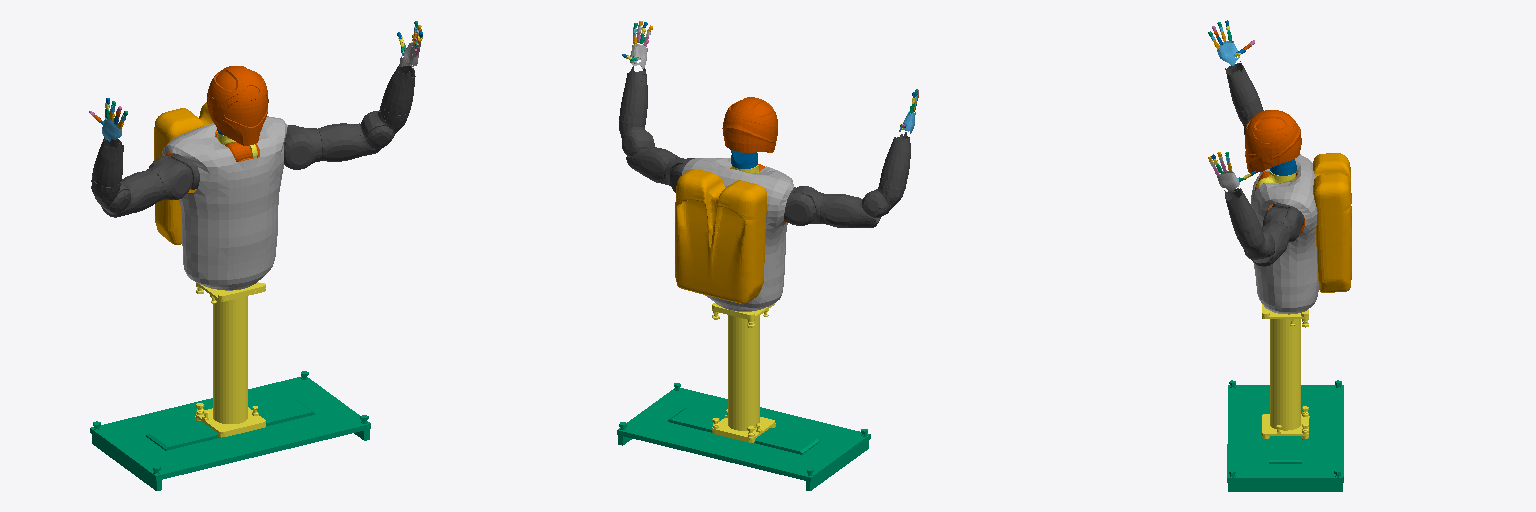
--- Render facts (derived) ---
3 views of the same robot in one strip: view 1: azimuth 30°, elevation 25°; view 2: azimuth 150°, elevation 25°; view 3: azimuth 270°, elevation 25° (orthographic).
Model r2 with 92 links and 91 joints (54 revolute, 37 fixed), rooted at world, posed joints at zero except 4 at the middle of their limits (r2/left_arm/joint2 = -2.84, r2/left_arm/joint3 = -1.44, r2/right_arm/joint2 = 2.84, r2/right_arm/joint3 = -1.44).
Visible links, largest first — view 1: r2/baseplate, r2/body_cover, r2/stanchion, r2/neck_roll, r2/backpack, r2/left_upper_arm, r2/right_upper_arm, r2/left_lower_arm, r2/left_shoulder_pitch, r2/right_lower_arm, r2/right_shoulder_pitch, r2/left_elbow; view 2: r2/baseplate, r2/backpack, r2/stanchion, r2/body_cover, r2/neck_roll, r2/right_upper_arm, r2/left_lower_arm, r2/right_lower_arm, r2/left_upper_arm, r2/right_elbow, r2/right_shoulder_roll, r2/left_elbow; view 3: r2/baseplate, r2/body_cover, r2/backpack, r2/stanchion, r2/neck_roll, r2/right_lower_arm, r2/left_lower_arm, r2/left_upper_arm, r2/left_elbow.
Boxes of the visible links, <box> form: r2/baseplate: <box>90,371,370,490</box>; r2/body_cover: <box>162,116,287,290</box>; r2/stanchion: <box>195,282,265,437</box>; r2/neck_roll: <box>207,66,268,145</box>; r2/backpack: <box>154,102,213,244</box>; r2/left_upper_arm: <box>318,123,393,161</box>; r2/right_upper_arm: <box>101,170,163,217</box>; r2/left_lower_arm: <box>380,64,415,120</box>; r2/left_shoulder_pitch: <box>284,127,321,169</box>; r2/right_lower_arm: <box>91,137,123,192</box>; r2/right_shoulder_pitch: <box>147,158,192,200</box>; r2/left_elbow: <box>361,110,406,137</box>; r2/baseplate: <box>617,383,870,490</box>; r2/backpack: <box>675,169,766,303</box>; r2/stanchion: <box>712,303,775,442</box>; r2/body_cover: <box>682,158,793,311</box>; r2/neck_roll: <box>722,97,777,152</box>; r2/right_upper_arm: <box>820,194,880,227</box>; r2/left_lower_arm: <box>619,67,647,123</box>; r2/right_lower_arm: <box>879,132,910,189</box>; r2/left_upper_arm: <box>626,145,677,184</box>; r2/right_elbow: <box>862,184,904,217</box>; r2/right_shoulder_roll: <box>783,187,816,225</box>; r2/left_elbow: <box>619,120,654,155</box>; r2/baseplate: <box>1227,380,1343,491</box>; r2/body_cover: <box>1251,154,1318,314</box>; r2/backpack: <box>1313,153,1351,292</box>; r2/stanchion: <box>1262,304,1309,438</box>; r2/neck_roll: <box>1245,110,1301,172</box>; r2/right_lower_arm: <box>1225,61,1262,117</box>; r2/left_lower_arm: <box>1224,188,1261,240</box>; r2/left_upper_arm: <box>1244,221,1289,266</box>; r2/left_elbow: <box>1239,230,1274,259</box>.
Size in the robot's own frame: 1.55 by 0.695 by 1.91 metres.
52 mesh visuals loaded from 28 distinct referenced files (28 Collada DAE).

robot.urdf — r2:
<?xml version="1.0" ?>
<!-- =================================================================================== -->
<!-- |    This document was autogenerated by xacro from r2.sim.urdf.xacro              | -->
<!-- |    EDITING THIS FILE BY HAND IS NOT RECOMMENDED                                 | -->
<!-- =================================================================================== -->
<robot name="r2" xmlns:controller="http://playerstage.sourceforge.net/gazebo/xmlschema/#controller" xmlns:interface="http://playerstage.sourceforge.net/gazebo/xmlschema/#interface" xmlns:sensor="http://playerstage.sourceforge.net/gazebo/xmlschema/#sensor" xmlns:xacro="http://playerstage.sourceforge.net/gazebo/xmlschema/#interface">
  <material name="white">
    <color rgba="1.0 1.0 1.0 1.0"/>
  </material>
  <material name="dirty_white">
    <color rgba="0.322 0.322 0.322 1.0"/>
  </material>
  <material name="gold">
    <color rgba=".878 .49 0.008 1"/>
  </material>
  <material name="steel">
    <color rgba=".7 .7 .7 1"/>
  </material>
  <material name="blue">
    <color rgba="0 0 0.8 1"/>
  </material>
  <link name="world"/>
  <joint name="r2/fixed/world/robot_world" type="fixed">
    <parent link="world"/>
    <child link="r2/robot_world"/>
    <origin rpy="0.0 0 0" xyz="0.0 0.0 0.0"/>
  </joint>
  <link name="r2/robot_world">
    <inertial>
      <mass value="1"/>
      <inertia ixx="1" ixy="0.0" ixz="0.0" iyy="1" iyz="0.0" izz="1"/>
    </inertial>
  </link>
  <joint name="r2/fixed/robot_world/baseplate" type="fixed">
    <parent link="r2/robot_world"/>
    <child link="r2/baseplate"/>
    <origin rpy="0.0 0 1.57" xyz="0.0 0.0 0.0"/>
  </joint>
  <link name="r2/baseplate">
    <visual>
      <geometry>
        <mesh filename="package://r2_description/meshes/Stanchion_Baseplate.dae"/>
      </geometry>
      <origin rpy="1.57 0 1.57" xyz="0.0 0.0 0.0"/>
    </visual>
    <collision>
      <geometry>
        <mesh filename="package://r2_description/meshes/Stanchion_Baseplate.dae" scale=".01 .01 .01"/>
      </geometry>
      <origin rpy="1.57 0 1.57" xyz="0.0 0.0 0.0"/>
    </collision>
    <inertial>
      <mass value="5"/>
      <inertia ixx="1" ixy="0.0" ixz="0.0" iyy="1" iyz="0.0" izz="1"/>
    </inertial>
  </link>
  <joint name="r2/fixed/baseplate/stanchion" type="fixed">
    <parent link="r2/baseplate"/>
    <child link="r2/stanchion"/>
    <origin rpy="0 0 3.14" xyz="0.0 0.0 .70"/>
  </joint>
  <link name="r2/stanchion">
    <visual>
      <geometry>
        <mesh filename="package://r2_description/meshes/Stanchion.dae"/>
      </geometry>
      <origin rpy="0 0 0" xyz="0.0 0.0 0.0"/>
    </visual>
    <collision>
      <geometry>
        <!--        <mesh filename="package://r2_description/meshes/Stanchion.dae"/> -->
        <cylinder length="0.5" radius=".075"/>
      </geometry>
      <origin rpy="0 0 0" xyz="0.0 0.0 -0.3"/>
    </collision>
    <inertial>
      <mass value="50"/>
      <inertia ixx="10" ixy="0.0" ixz="0.0" iyy="10" iyz="0.0" izz="10"/>
    </inertial>
  </link>
  <joint name="r2/fixed/stanchion/robot_base" type="fixed">
    <parent link="r2/stanchion"/>
    <child link="r2/robot_base"/>
    <origin rpy="0 3.14 3.14" xyz="0.0 0.0 0.02"/>
  </joint>
  <link name="r2/robot_base">
    <inertial>
      <mass value="0.01"/>
      <inertia ixx="0.0001" ixy="0.0" ixz="0.0" iyy="0.001" iyz="0.0" izz="0.001"/>
    </inertial>
  </link>
  <joint name="r2/waist/joint0" type="revolute">
    <parent link="r2/robot_base"/>
    <child link="r2/waist_center"/>
    <axis xyz="0 0 1"/>
    <origin rpy="0.0 0 0.0" xyz="0.0 0.0 0.0"/>
    <dynamics damping="20.0" friction="1.0"/>
    <limit effort="10000000.0" lower="-3.14" upper="3.14" velocity="1000"/>
  </joint>
  <link name="r2/waist_center">
    <visual>
      <geometry>
        <mesh filename="package://r2_description/meshes/Body.dae"/>
      </geometry>
      <origin rpy="-1.57 0 -1.57" xyz="0.01 0.05 -0.5625"/>
    </visual>
    <!-- <collision>
      <geometry>
         <mesh filename="package://r2_description/meshes/Body.dae"/>  
      </geometry>
      <origin rpy="-1.57 0 -1.57" xyz="0.00 0.05 -0.5625"/>
    </collision> -->
    <inertial>
      <mass value="10"/>
      <inertia ixx="1" ixy="0.0" ixz="0.0" iyy="1" iyz="0.0" izz="1"/>
    </inertial>
  </link>
  <joint name="r2/fixed/waist_center/robot_reference" type="fixed">
    <parent link="r2/waist_center"/>
    <child link="r2/robot_reference"/>
    <origin rpy="0.0 0 0.0" xyz="0.1234 0.0 0.0"/>
  </joint>
  <joint name="r2/fixed/waist_center/body_cover" type="fixed">
    <parent link="r2/waist_center"/>
    <child link="r2/body_cover"/>
    <origin rpy="0.0 0.0 0.0" xyz="0 0.0 0.0"/>
  </joint>
  <joint name="r2/fixed/waist_center/backpack" type="fixed">
    <parent link="r2/waist_center"/>
    <child link="r2/backpack"/>
    <origin rpy="0.0 0.0 0.0" xyz="0 0.0 0.0"/>
  </joint>
  <joint name="r2/fixed/waist_center/chest_center" type="fixed">
    <parent link="r2/waist_center"/>
    <child link="r2/chest_center"/>
    <origin rpy="0.0 0.0 0.0" xyz="-0.01235 0.0 0.0"/>
  </joint>
  <link name="r2/robot_reference">
    <inertial>
      <mass value="0.01"/>
      <inertia ixx="0.0001" ixy="0.0" ixz="0.0" iyy="0.001" iyz="0.0" izz="0.001"/>
    </inertial>
  </link>
  <link name="r2/body_cover">
    <visual>
      <geometry>
        <mesh filename="package://r2_description/meshes/Body_Cover.dae"/>
      </geometry>
      <!--       <origin rpy="-1.57 0 -1.57" xyz="0.02 0.05 -0.5625"/>
 -->
      <origin rpy="-1.57 0 -1.57" xyz="0.01 0.05 -0.5625"/>
    </visual>
    <collision>
      <geometry>
        <mesh filename="package://r2_description/meshes/Body_Cover.dae"/>
      </geometry>
      <origin rpy="-1.57 0 -1.57" xyz="0.01 0.05 -0.5625"/>
    </collision>
    <inertial>
      <mass value="0.1"/>
      <inertia ixx="0.001" ixy="0.0" ixz="0.0" iyy="0.001" iyz="0.0" izz="0.001"/>
    </inertial>
  </link>
  <link name="r2/backpack">
    <visual>
      <geometry>
        <mesh filename="package://r2_description/meshes/Backpack.dae"/>
      </geometry>
      <origin rpy="0 0 0.25" xyz="0.0 0.0 -0.54"/>
    </visual>
    <collision>
      <geometry>
        <mesh filename="package://r2_description/meshes/Backpack.dae"/>
      </geometry>
      <origin rpy="0 0 0.25" xyz="0.0 0.0 -0.54"/>
    </collision>
    <inertial>
      <mass value="10"/>
      <inertia ixx="1" ixy="0.0" ixz="0.0" iyy="1" iyz="0.0" izz="1"/>
    </inertial>
  </link>
  <link name="r2/chest_center">
    <inertial>
      <mass value="0.01"/>
      <inertia ixx="0.0001" ixy="0.0" ixz="0.0" iyy="0.001" iyz="0.0" izz="0.001"/>
    </inertial>
  </link>
  <joint name="r2/fixed/chest_center/chest_base" type="fixed">
    <parent link="r2/chest_center"/>
    <child link="r2/chest_base"/>
    <origin rpy="0.0 -0.0 0.0 " xyz="-0.05299202 -0.0 -0.5442458"/>
  </joint>
  <link name="r2/chest_base">
    <inertial>
      <mass value="0.01"/>
      <inertia ixx="0.0001" ixy="0.0" ixz="0.0" iyy="0.001" iyz="0.0" izz="0.001"/>
    </inertial>
  </link>
  <joint name="r2/neck/joint0" type="revolute">
    <parent link="r2/waist_center"/>
    <child link="r2/neck_base"/>
    <origin rpy=" -1.570796 -0.0 0.0 " xyz=" 0.08636 0.0 -0.6142228 "/>
    <dynamics damping="1.0" friction="0.0"/>
    <axis xyz="0 0 1"/>
    <limit effort="10000.0" lower="-0.7" upper="0.175" velocity="1000.0"/>
  </joint>
  <link name="r2/neck_base">
    <visual>
      <geometry>
        <mesh filename="package://r2_description/meshes/Neck_Lower.dae"/>
      </geometry>
      <origin rpy="-1.57 1.57 0" xyz="0.0 0.0 0.0"/>
    </visual>
    <inertial>
      <mass value=".1"/>
      <inertia ixx=".0010" ixy="0.0" ixz="0.0" iyy=".0010" iyz="0.0" izz=".0010"/>
    </inertial>
    <collision>
      <geometry>
        <mesh filename="package://r2_description/meshes/Neck_Lower.dae"/>
      </geometry>
      <origin rpy="-1.57 1.57 0" xyz="0.0 0.0 0.0"/>
    </collision>
  </link>
  <joint name="r2/neck/joint1" type="revolute">
    <parent link="r2/neck_base"/>
    <child link="r2/neck_lower_pitch"/>
    <origin rpy=" -1.570796 -0.0 0.0 " xyz=" -0.0762 -0.0 0.0 "/>
    <dynamics damping="1.0" friction="0.0"/>
    <axis xyz="0 0 1"/>
    <limit effort="10000.0" lower="-1.22" upper="1.22" velocity="1000.0"/>
  </joint>
  <link name="r2/neck_lower_pitch">
    <visual>
      <geometry>
        <mesh filename="package://r2_description/meshes/Neck_Upper.dae"/>
      </geometry>
      <origin rpy="0 0 1.57" xyz="0.075 0.0 0.0"/>
    </visual>
    <inertial>
      <mass value=".1"/>
      <inertia ixx=".0010" ixy="0.0" ixz="0.0" iyy=".0010" iyz="0.0" izz=".0010"/>
    </inertial>
    <collision>
      <geometry>
        <mesh filename="package://r2_description/meshes/Neck_Upper.dae"/>
      </geometry>
      <origin rpy="0 0 1.57" xyz="0.075 0.0 0.0"/>
    </collision>
  </link>
  <joint name="r2/neck/joint2" type="revolute">
    <parent link="r2/neck_lower_pitch"/>
    <child link="r2/neck_roll"/>
    <origin rpy=" 1.570796 -0.0 0.0 " xyz=" 0.0508 0.0 0.1777619 "/>
    <dynamics damping="1.0" friction="0.0"/>
    <axis xyz="0 0 1"/>
    <limit effort="10000.0" lower="-0.7" upper="0.175" velocity="1000.0"/>
  </joint>
  <link name="r2/neck_roll">
    <visual>
      <geometry>
        <mesh filename="package://r2_description/meshes/Head.dae"/>
      </geometry>
      <origin rpy="0 1.57 0" xyz="-0.0 0.07 0.0"/>
    </visual>
    <collision>
      <geometry>
        <mesh filename="package://r2_description/meshes/Head.dae"/>
      </geometry>
      <origin rpy="0 1.57 0" xyz="-0.0 0.07 0.0"/>
    </collision>
    <inertial>
      <mass value=".1"/>
      <inertia ixx=".0010" ixy="0.0" ixz="0.0" iyy=".0010" iyz="0.0" izz=".0010"/>
    </inertial>
  </link>
  <joint name="r2/fixed/neck_roll/neck_upper_pitch" type="fixed">
    <parent link="r2/neck_roll"/>
    <child link="r2/neck_upper_pitch"/>
    <origin rpy=" 1.570796 -0.0 0.0 " xyz=" 0.0 0.0 0.0 "/>
  </joint>
  <link name="r2/neck_upper_pitch">
    <inertial>
      <mass value=".1"/>
      <inertia ixx=".0010" ixy="0.0" ixz="0.0" iyy=".0010" iyz="0.0" izz=".0010"/>
    </inertial>
  </link>
  <joint name="r2/fixed/neck_upper_pitch/asus_frame" type="fixed">
    <parent link="r2/neck_upper_pitch"/>
    <child link="r2/asus_frame"/>
    <origin rpy="1.50 0.0 1.57 " xyz="0.12 -0.015 -0.14 "/>
    <!-- OK    <origin rpy="1.45 0 1.57 " xyz="0.11 -0.040 -0.15 "/>  -->
    <!-- ORIGINAL     <origin rpy="1.57 0 1.57 " xyz="0.066675 -0.0508 -0.116205 "/>  -->
  </joint>
  <joint name="r2/fixed/neck_upper_pitch/simulated_asus_camera_frame" type="fixed">
    <parent link="r2/neck_upper_pitch"/>
    <child link="r2/simulated_asus_camera_frame"/>
    <dynamics damping="1.0"/>
    <origin rpy="3.14 0 0" xyz="0.12 -0.015 -0.14 "/>
    <!--     <origin rpy="0 0 0" xyz="0.12 -0.015 -0.14 "/> -->
  </joint>
  <joint name="r2/fixed/neck_upper_pitch/simulated_asus_depth_frame" type="fixed">
    <parent link="r2/neck_upper_pitch"/>
    <child link="r2/simulated_asus_depth_frame"/>
    <dynamics damping="1.0"/>
    <origin rpy="1.57 0 1.57" xyz="0.12 -0.015 -0.14 "/>
    <!--     <origin rpy="0 0 0" xyz="0.12 -0.015 -0.14 "/> -->
  </joint>
  <joint name="r2/fixed/neck_upper_pitch/vision_center_frame" type="fixed">
    <parent link="r2/neck_upper_pitch"/>
    <child link="r2/vision_center_frame"/>
    <dynamics damping="1.0"/>
    <origin rpy="1.57 -1.57 1.57" xyz=" 0.066675 0.0 -0.116205 "/>
  </joint>
  <link name="r2/asus_frame">
    <inertial>
      <mass value=".01"/>
      <inertia ixx=".0010" ixy="0.0" ixz="0.0" iyy=".0010" iyz="0.0" izz=".0010"/>
    </inertial>
  </link>
  <joint name="r2/fixed/asus_frame/openni_depth_frame" type="fixed">
    <parent link="r2/asus_frame"/>
    <child link="r2/openni_depth_frame"/>
    <origin rpy="1.57 -1.57 0 " xyz="0 0 0 "/>
  </joint>
  <link name="r2/openni_depth_frame">
    <inertial>
      <mass value=".01"/>
      <inertia ixx=".0010" ixy="0.0" ixz="0.0" iyy=".0010" iyz="0.0" izz=".0010"/>
    </inertial>
  </link>
  <link name="r2/simulated_asus_camera_frame">
    <inertial>
      <mass value=".01"/>
      <inertia ixx=".0010" ixy="0.0" ixz="0.0" iyy=".0010" iyz="0.0" izz=".0010"/>
    </inertial>
  </link>
  <link name="r2/simulated_asus_depth_frame">
    <inertial>
      <mass value=".01"/>
      <inertia ixx=".0010" ixy="0.0" ixz="0.0" iyy=".0010" iyz="0.0" izz=".0010"/>
    </inertial>
  </link>
  <link name="r2/vision_center_frame">
    <inertial>
      <mass value=".1"/>
      <inertia ixx=".0010" ixy="0.0" ixz="0.0" iyy=".0010" iyz="0.0" izz=".0010"/>
    </inertial>
  </link>
  <joint name="r2/fixed/vision_center_frame/left_camera_frame" type="fixed">
    <parent link="r2/vision_center_frame"/>
    <child link="r2/left_camera_frame"/>
    <dynamics damping="1.0"/>
    <origin rpy="0 0 1.57" xyz="0.0087 0.04887 0.01789"/>
  </joint>
  <joint name="r2/fixed/vision_center_frame/right_camera_frame" type="fixed">
    <parent link="r2/vision_center_frame"/>
    <child link="r2/right_camera_frame"/>
    <dynamics damping="1.0"/>
    <origin rpy="0 0 1.57" xyz="0.0087 -0.04887 0.01789"/>
  </joint>
  <link name="r2/left_camera_frame">
    <inertial>
      <mass value=".1"/>
      <inertia ixx=".0010" ixy="0.0" ixz="0.0" iyy=".0010" iyz="0.0" izz=".0010"/>
    </inertial>
  </link>
  <joint name="r2/fixed/left_camera_frame/left_camera_optical_frame" type="fixed">
    <parent link="r2/left_camera_frame"/>
    <child link="r2/left_camera_optical_frame"/>
    <dynamics damping="1.0"/>
    <origin rpy="-1.57 -1.57 0" xyz="0 0 0"/>
  </joint>
  <link name="r2/left_camera_optical_frame">
    <inertial>
      <mass value=".1"/>
      <inertia ixx=".0010" ixy="0.0" ixz="0.0" iyy=".0010" iyz="0.0" izz=".0010"/>
    </inertial>
  </link>
  <link name="r2/right_camera_frame">
    <inertial>
      <mass value=".1"/>
      <inertia ixx=".0010" ixy="0.0" ixz="0.0" iyy=".0010" iyz="0.0" izz=".0010"/>
    </inertial>
  </link>
  <joint name="r2/fixed/right_camera_frame/right_camera_optical_frame" type="fixed">
    <parent link="r2/right_camera_frame"/>
    <child link="r2/right_camera_optical_frame"/>
    <dynamics damping="1.0"/>
    <origin rpy="-1.57 -1.57 0" xyz="0 0 0"/>
  </joint>
  <link name="r2/right_camera_optical_frame">
    <inertial>
      <mass value=".1"/>
      <inertia ixx=".0010" ixy="0.0" ixz="0.0" iyy=".0010" iyz="0.0" izz=".0010"/>
    </inertial>
  </link>
  <joint name="r2/left_arm/joint0" type="revolute">
    <parent link="r2/chest_base"/>
    <child link="r2/left_shoulder_roll"/>
    <origin rpy=" -1.5664 -0.0 -2.8802 " xyz=" -0.0 -0.0 0.0 "/>
    <axis xyz="0 0 1"/>
    <dynamics damping="10.0" friction="0.0"/>
    <limit effort="100.0" lower="-1.57" upper="1.57" velocity="1000"/>
  </joint>
  <link name="r2/left_shoulder_roll">
    <visual>
      <geometry>
        <mesh filename="package://r2_description/meshes/Left_Shoulder_Upper.dae"/>
      </geometry>
      <material name="dirty_white"/>
      <origin rpy="0 0 1.57" xyz="0 0 .08"/>
    </visual>
    <!-- <collision>
      <geometry>
        <mesh filename="package://r2_description/meshes/Left_Shoulder_Upper.dae" scale="0.7 0.7 0.7"/>
      </geometry>
      <origin rpy="0 0 1.57" xyz="0 0 .08"/>
    </collision> -->
    <inertial>
      <origin xyz="-0.0089916 -0.00131572   0.10287   "/>
      <mass value="6.168856232"/>
      <inertia ixx="0.0198585269" ixy="-0.0060195977" ixz="-0.0003950635" iyy="0.0671900643" iyz="0.00012683" izz="0.0634150128"/>
    </inertial>
  </link>
  <joint name="r2/left_arm/joint1" type="revolute">
    <parent link="r2/left_shoulder_roll"/>
    <child link="r2/left_shoulder_pitch"/>
    <origin rpy=" -1.5701 -0.0 1.570796 " xyz=" 0.0 0.0 0.316611 "/>
    <axis xyz="0 0 1"/>
    <dynamics damping="10.0" friction="0.0"/>
    <limit effort="100.0" lower="-1.66" upper=".175" velocity="1000"/>
  </joint>
  <link name="r2/left_shoulder_pitch">
    <visual>
      <geometry>
        <mesh filename="package://r2_description/meshes/Left_Shoulder_Lower.dae"/>
      </geometry>
      <material name="dirty_white"/>
      <origin rpy=".0 0 -1.57" xyz="0 0 0"/>
    </visual>
    <!-- <collision>
      <geometry>
        <mesh filename="package://r2_description/meshes/Left_Shoulder_Lower.dae"/>
      </geometry>
      <origin rpy=".0 0 -1.57" xyz="0 0 0"/>
    </collision> -->
    <inertial>
      <origin xyz="0.037084 -0.00028448   0.0077978   "/>
      <mass value="4.4270615312"/>
      <inertia ixx="0.02701064" ixy="0.001512947" ixz="-0.000052382497887" iyy="0.0113836825" iyz="0.0000217138622526" izz="0.0251962741"/>
    </inertial>
  </link>
  <joint name="r2/left_arm/joint2" type="revolute">
    <parent link="r2/left_shoulder_pitch"/>
    <child link="r2/left_upper_arm"/>
    <origin rpy=" 1.57 -0.0 0.0 " xyz=" 0.0 0.0 0.0 "/>
    <axis xyz="0 0 1"/>
    <dynamics damping="10.0" friction="0.0"/>
    <limit effort="100.0" lower="-4.89" upper="-0.79" velocity="1000"/>
  </joint>
  <link name="r2/left_upper_arm">
    <visual>
      <geometry>
        <mesh filename="package://r2_description/meshes/Left_Upper_Arm.dae"/>
      </geometry>
      <material name="dirty_white"/>
      <origin rpy="0 0 3.14" xyz="0 0 .1016"/>
    </visual>
    <collision>
      <geometry>
        <mesh filename="package://r2_description/meshes/Left_Upper_Arm.dae" scale="0.8 0.8 0.8"/>
      </geometry>
      <origin rpy="0 0 3.14" xyz="0 0 .1016"/>
    </collision>
    <inertial>
      <origin xyz="-0.0074168 -0.041402   0.1016   "/>
      <mass value="4.853438359"/>
      <inertia ixx="0.016007389" ixy="-0.00339462" ixz="0.0065843922" iyy="0.0462370652" iyz="0.0013754064" izz="0.04214011"/>
    </inertial>
  </link>
  <joint name="r2/left_arm/joint3" type="revolute">
    <parent link="r2/left_upper_arm"/>
    <child link="r2/left_elbow"/>
    <origin rpy=" -1.5748 -0.0 0.0 " xyz=" -0.05437886 -0.0 0.3564382 "/>
    <axis xyz="0 0 1"/>
    <dynamics damping="1.0" friction="0.0"/>
    <limit effort="100.0" lower="-2.79" upper="-.087" velocity="1000"/>
  </joint>
  <link name="r2/left_elbow">
    <visual>
      <geometry>
        <mesh filename="package://r2_description/meshes/Left_Elbow.dae"/>
      </geometry>
      <material name="dirty_white"/>
      <origin rpy="0 0 -1.57" xyz="0 0 0"/>
    </visual>
    <collision>
      <geometry>
        <mesh filename="package://r2_description/meshes/Left_Elbow.dae"/>
      </geometry>
      <origin rpy="0 0 -1.57" xyz="0 0 0"/>
    </collision>
    <inertial>
      <origin xyz="0.026162 0.033782   0.0154432   "/>
      <mass value="2.9710300235"/>
      <inertia ixx="0.0120274897" ixy="0.0016417085" ixz="-0.001188117" iyy="0.0088377175" iyz="0.0031605083" izz="0.0105350275"/>
    </inertial>
  </link>
  <joint name="r2/left_arm/joint4" type="revolute">
    <parent link="r2/left_elbow"/>
    <child link="r2/left_lower_arm"/>
    <origin rpy=" 1.5738 -0.0 0.0 " xyz=" 0.0540385 0.0 0.0 "/>
    <axis xyz="0 0 1"/>
    <dynamics damping="1.0" friction="0.0"/>
    <limit effort="100.0" lower="-1.3" upper="4.45" velocity="1000"/>
  </joint>
  <link name="r2/left_lower_arm">
    <visual>
      <geometry>
        <mesh filename="package://r2_description/meshes/Left_Forearm.dae"/>
      </geometry>
      <origin xyz="0 0 0.1"/>
      <material name="dirty_white"/>
    </visual>
    <collision>
      <geometry>
        <mesh filename="package://r2_description/meshes/Left_Forearm.dae"/>
      </geometry>
      <origin xyz="0 0 0.1"/>
    </collision>
    <inertial>
      <origin xyz="0.0003556 -0.00122682   0.17653   "/>
      <mass value="6.939963261"/>
      <inertia ixx="0.0125249771" ixy="-0.0002446467" ixz="0.0005208986" iyy="0.0395063532" iyz="-0.0001691457" izz="0.0403842721"/>
    </inertial>
  </link>
  <joint name="r2/left_arm/joint5" type="revolute">
    <parent link="r2/left_lower_arm"/>
    <child link="r2/left_wrist_pitch"/>
    <origin rpy=" -1.5952 -0.0 0.0 " xyz=" 0.0 0.0 0.3570478 "/>
    <axis xyz="0 0 1"/>
    <dynamics damping="1.0" friction="0.0"/>
    <limit effort="100.0" lower="-1.22" upper="1.22" velocity="1000"/>
  </joint>
  <link name="r2/left_wrist_pitch">
    <inertial>
      <origin xyz="-0.004064   0.000000152908   -0.00092202"/>
      <mass value="0.1165732391"/>
      <inertia ixx="0.1" ixy="0.0" ixz="0.0" iyy="0.1" iyz="0.0" izz="0.1"/>
    </inertial>
  </link>
  <joint name="r2/left_arm/joint6" type="revolute">
    <parent link="r2/left_wrist_pitch"/>
    <child link="r2/left_wrist_yaw"/>
    <origin rpy=" 1.6505 -0.0 -1.5727 " xyz=" -0.00001156 -0.006072621 0.0 "/>
    <axis xyz="0 0 1"/>
    <dynamics damping="1.0" friction="0.0"/>
    <limit effort="100.0" lower="-0.785" upper="0.785" velocity="1000"/>
  </joint>
  <link name="r2/left_wrist_yaw">
    <inertial>
      <origin xyz="-0.00090932   -0.0253746  0.067564     "/>
      <mass value="0.1"/>
      <inertia ixx="0.1" ixy="0.0" ixz="0.0" iyy="0.1" iyz="0.0" izz="0.1"/>
    </inertial>
  </link>
  <joint name="r2/fixed/left_wrist_yaw/left_palm" type="fixed">
    <parent link="r2/left_wrist_yaw"/>
    <child link="r2/left_palm"/>
    <origin rpy=" 0.0 -0.0 -0.014 " xyz=" 0.0 -0.0 0.0 "/>
  </joint>
  <link name="r2/left_palm">
    <visual>
      <geometry>
        <mesh filename="package://r2_description/meshes/Left_Palm.dae"/>
      </geometry>
      <origin rpy="3.14 0 1.57" xyz="0.0 0.0 -0.0"/>
    </visual>
    <collision>
      <geometry>
        <mesh filename="package://r2_description/meshes/Left_Palm.dae"/>
      </geometry>
      <origin rpy="3.14 0 1.57" xyz="0.0 0.0 -0.0"/>
    </collision>
    <inertial>
      <origin xyz="0.067564   -0.0253746   -0.00090932"/>
      <mass value="1.1"/>
      <inertia ixx="0.1" ixy="0.0" ixz="0.0" iyy="0.1" iyz="0.0" izz="0.1"/>
    </inertial>
  </link>
  <joint name="r2/left_arm/hand/thumb/joint0" type="revolute">
    <parent link="r2/left_wrist_yaw"/>
    <child link="r2/left_thumb_base"/>
    <origin rpy=" -1.57079632679 -0.0 1.30899702752 " xyz=" 0.03302 0.03048 0.00635 "/>
    <axis xyz="0 0 1"/>
    <limit effort="10000000.0" lower="-1.2217" upper="0.0" velocity="1000"/>
    <dynamics damping="0.1" friction="0.0"/>
  </joint>
  <joint name="r2/fixed/left_index_base/left_index_base" type="fixed">
    <parent link="r2/left_wrist_yaw"/>
    <child link="r2/left_index_base"/>
    <origin rpy=" 0.0 -0.0 0.122172725275 " xyz=" 0.0994646728 0.0271119346 -0.0161544 "/>
  </joint>
  <joint name="r2/left_arm/hand/index/joint0" type="revolute">
    <parent link="r2/left_index_base"/>
    <child link="r2/left_index_yaw"/>
    <origin rpy="0.0 0.0 0.0" xyz="0.0 0.0 0.0"/>
    <axis xyz="0 0 1"/>
    <limit effort="10000000.0" lower="-0.3491" upper="0.3491" velocity="1000"/>
    <dynamics damping="0.1" friction="0.0"/>
  </joint>
  <joint name="r2/fixed/left_middle_base/left_middle_base" type="fixed">
    <parent link="r2/left_wrist_yaw"/>
    <child link="r2/left_middle_base"/>
    <origin rpy=" 0.0 -0.0 0.0 " xyz=" 0.10646537 0.00254 -0.0161544 "/>
  </joint>
  <joint name="r2/left_arm/hand/middle/joint0" type="revolute">
    <parent link="r2/left_middle_base"/>
    <child link="r2/left_middle_yaw"/>
    <origin rpy="0.0 0.0 0.0" xyz="0.0 0.0 0.0"/>
    <axis xyz="0 0 1"/>
    <limit effort="10000000.0" lower="-0.3491" upper="0.3491" velocity="1000"/>
    <dynamics damping="0.1" friction="0.0"/>
  </joint>
  <joint name="r2/left_arm/hand/ring/joint0" type="revolute">
    <parent link="r2/left_wrist_yaw"/>
    <child link="r2/left_ring_proximal"/>
    <origin rpy=" 1.57079632679 -0.0 -0.122172725275 " xyz=" 0.1084570602 -0.0197673468 -0.012319 "/>
    <axis xyz="0 0 1"/>
    <limit effort="10000000.0" lower="0" upper="2.9671" velocity="1000"/>
    <dynamics damping="0.1" friction="0.0"/>
  </joint>
  <joint name="r2/left_arm/hand/little/joint0" type="revolute">
    <parent link="r2/left_wrist_yaw"/>
    <child link="r2/left_little_proximal"/>
    <origin rpy=" 1.60570321374 -0.0872667473393 -0.17453258148 " xyz=" 0.094635701 -0.0403792436 -0.0060878212 "/>
    <axis xyz="0 0 1"/>
    <limit effort="10000000.0" lower="0" upper="2.9671" velocity="1000"/>
    <dynamics damping="0.1" friction="0.0"/>
  </joint>
  <link name="r2/left_thumb_base">
    <inertial>
      <mass value=".05"/>
      <inertia ixx=".0010" ixy="0.0" ixz="0.0" iyy=".0010" iyz="0.0" izz=".0010"/>
    </inertial>
  </link>
  <joint name="r2/fixed/left_thumb_base/left_thumb_proximal" type="fixed">
    <parent link="r2/left_thumb_base"/>
    <child link="r2/left_thumb_proximal"/>
    <origin rpy=" -1.570796 -0.0 0.0 " xyz=" 0.011938 0.0 0.0 "/>
  </joint>
  <link name="r2/left_thumb_proximal">
    <inertial>
      <mass value=".0010"/>
      <inertia ixx=".0010" ixy="0.0" ixz="0.0" iyy=".0010" iyz="0.0" izz=".0010"/>
    </inertial>
    <visual>
      <geometry>
        <mesh filename="package://r2_description/meshes/Left_Thumb_Carp.dae"/>
      </geometry>
      <origin rpy="-1.57 0 0" xyz="-0.01 0.0 0.0"/>
    </visual>
    <collision>
      <geometry>
        <mesh filename="package://r2_description/meshes/Left_Thumb_Carp.dae"/>
      </geometry>
      <origin rpy="-1.57 0 0" xyz="-0.01 0.0 0.0"/>
    </collision>
  </link>
  <joint name="r2/left_arm/hand/thumb/joint1" type="revolute">
    <parent link="r2/left_thumb_proximal"/>
    <child link="r2/left_thumb_medial_prime"/>
    <origin rpy=" 0.0 -0.0 0.0 " xyz=" 0.0 0.0 0.0 "/>
    <axis xyz="0 0 1"/>
    <limit effort="10000000.0" lower="0.0" upper="1.3963" velocity="1000"/>
    <dynamics damping="0.1" friction="0.0"/>
  </joint>
  <link name="r2/left_thumb_medial_prime">
    <inertial>
      <mass value=".0010"/>
      <inertia ixx=".0010" ixy="0.0" ixz="0.0" iyy=".0010" iyz="0.0" izz=".0010"/>
    </inertial>
    <visual>
      <geometry>
        <mesh filename="package://r2_description/meshes/Left_Thumb_MtCar.dae"/>
      </geometry>
      <origin rpy="-1.57 -1.57 0" xyz="-0.0 0 0.0"/>
    </visual>
    <collision>
      <geometry>
        <mesh filename="package://r2_description/meshes/Left_Thumb_MtCar.dae"/>
      </geometry>
      <origin rpy="-1.57 -1.57 0" xyz="0.0 0.0 0.0"/>
    </collision>
  </link>
  <joint name="r2/left_arm/hand/thumb/joint2" type="revolute">
    <parent link="r2/left_thumb_medial_prime"/>
    <child link="r2/left_thumb_medial"/>
    <origin rpy=" -0.698132284627 -0.0 0.0 " xyz=" 0.030734 -0.001905 0.00254 "/>
    <axis xyz="0 0 1"/>
    <limit effort="10000000.0" lower="0.0" upper="1.2217" velocity="1000"/>
    <dynamics damping="0.1" friction="0.0"/>
  </joint>
  <link name="r2/left_thumb_medial">
    <inertial>
      <mass value=".0010"/>
      <inertia ixx=".0010" ixy="0.0" ixz="0.0" iyy=".0010" iyz="0.0" izz=".0010"/>
    </inertial>
    <visual>
      <geometry>
        <mesh filename="package://r2_description/meshes/Thumb_Proximal.dae"/>
      </geometry>
      <origin rpy="3.14 0 1.57" xyz="0.0 0.0 0.0"/>
    </visual>
    <collision>
      <geometry>
        <mesh filename="package://r2_description/meshes/Thumb_Proximal.dae"/>
      </geometry>
      <origin rpy="3.14 0 1.57" xyz="0.0 0.0 0.0"/>
    </collision>
  </link>
  <joint name="r2/left_arm/hand/thumb/joint3" type="revolute">
    <parent link="r2/left_thumb_medial"/>
    <child link="r2/left_thumb_distal"/>
    <origin rpy=" 0.0 -0.0 0.0 " xyz=" 0.03937 0.0 0.0 "/>
    <axis xyz="0 0 1"/>
    <limit effort="10000000.0" lower="-0.5236" upper="1.57" velocity="1000"/>
    <dynamics damping="0.1" friction="0.0"/>
  </joint>
  <link name="r2/left_thumb_distal">
    <inertial>
      <mass value=".0010"/>
      <inertia ixx=".0010" ixy="0.0" ixz="0.0" iyy=".0010" iyz="0.0" izz=".0010"/>
    </inertial>
    <visual>
      <geometry>
        <mesh filename="package://r2_description/meshes/Thumb_Dist.dae"/>
      </geometry>
      <origin rpy="3.14 3.14 0" xyz="0.0 0.0 0.0"/>
    </visual>
    <collision>
      <geometry>
        <mesh filename="package://r2_description/meshes/Thumb_Dist.dae"/>
      </geometry>
      <origin rpy="3.14 3.14 0" xyz="0.0 0.0 0.0"/>
    </collision>
  </link>
  <joint name="r2/fixed/left_thumb_distal/left_thumb_tip" type="fixed">
    <parent link="r2/left_thumb_distal"/>
    <child link="r2/left_thumb_tip"/>
    <origin rpy=" 0.0 -0.0 0.0 " xyz=" 0.03302 0.0 0.0 "/>
  </joint>
  <link name="r2/left_thumb_tip">
    <inertial>
      <mass value=".0010"/>
      <inertia ixx=".0010" ixy="0.0" ixz="0.0" iyy=".0010" iyz="0.0" izz=".0010"/>
    </inertial>
  </link>
  <link name="r2/left_index_base">
    <inertial>
      <mass value=".0010"/>
      <inertia ixx=".0010" ixy="0.0" ixz="0.0" iyy=".0010" iyz="0.0" izz=".0010"/>
    </inertial>
  </link>
  <link name="r2/left_index_yaw">
    <inertial>
      <mass value=".0010"/>
      <inertia ixx=".0010" ixy="0.0" ixz="0.0" iyy=".0010" iyz="0.0" izz=".0010"/>
    </inertial>
  </link>
  <joint name="r2/left_arm/hand/index/joint1" type="revolute">
    <parent link="r2/left_index_yaw"/>
    <child link="r2/left_index_proximal"/>
    <origin rpy=" 1.570796 0.0 0.0 " xyz=" 0.009652 0.0 0.0 "/>
    <axis xyz="0 0 1"/>
    <limit effort="10000000.0" lower="0.0" upper="1.57" velocity="1000"/>
    <dynamics damping="0.1" friction="0.0"/>
  </joint>
  <link name="r2/left_index_proximal">
    <inertial>
      <mass value=".0010"/>
      <inertia ixx=".0010" ixy="0.0" ixz="0.0" iyy=".0010" iyz="0.0" izz=".0010"/>
    </inertial>
    <visual>
      <geometry>
        <mesh filename="package://r2_description/meshes/Finger_Proximal.dae"/>
      </geometry>
      <origin rpy="0 0 1.57" xyz="0.0 0.0 0.0"/>
    </visual>
    <collision>
      <geometry>
        <mesh filename="package://r2_description/meshes/Finger_Proximal.dae"/>
      </geometry>
      <origin rpy="0 0 1.57" xyz="0.0 0.0 0.0"/>
    </collision>
  </link>
  <joint name="r2/left_arm/hand/index/joint2" type="revolute">
    <parent link="r2/left_index_proximal"/>
    <child link="r2/left_index_medial"/>
    <origin rpy=" 0.0 -0.0 0.0 " xyz=" 0.04445 0.0 0.0 "/>
    <axis xyz="0 0 1"/>
    <limit effort="10000000.0" lower="0.0" upper="1.57" velocity="1000"/>
    <dynamics damping="0.1" friction="0.0"/>
  </joint>
  <link name="r2/left_index_medial">
    <inertial>
      <mass value=".0010"/>
      <inertia ixx=".0010" ixy="0.0" ixz="0.0" iyy=".0010" iyz="0.0" izz=".0010"/>
    </inertial>
    <visual>
      <geometry>
        <mesh filename="package://r2_description/meshes/Finger_Mid.dae"/>
      </geometry>
      <origin rpy="3.14 0 1.57" xyz="0.0 0.0 0.0"/>
    </visual>
    <collision>
      <geometry>
        <mesh filename="package://r2_description/meshes/Finger_Mid.dae"/>
      </geometry>
      <origin rpy="3.14 0 1.57" xyz="0.0 0.0 0.0"/>
    </collision>
  </link>
  <joint name="r2/left_arm/hand/index/joint3" type="revolute">
    <parent link="r2/left_index_medial"/>
    <child link="r2/left_index_distal"/>
    <origin rpy=" 0.0 -0.0 0.0 " xyz=" 0.03048 0.0 0.0 "/>
    <axis xyz="0 0 1"/>
    <limit effort="10000000.0" lower="0.0" upper="1.57" velocity="1000"/>
    <dynamics damping="0.1" friction="0.0"/>
  </joint>
  <link name="r2/left_index_distal">
    <inertial>
      <mass value=".0010"/>
      <inertia ixx=".0010" ixy="0.0" ixz="0.0" iyy=".0010" iyz="0.0" izz=".0010"/>
    </inertial>
    <visual>
      <geometry>
        <mesh filename="package://r2_description/meshes/Finger_Dist.dae"/>
      </geometry>
      <origin rpy="0 -1.57 0" xyz="0.0 0.0 0.0"/>
    </visual>
    <collision>
      <geometry>
        <mesh filename="package://r2_description/meshes/Finger_Dist.dae"/>
      </geometry>
      <origin rpy="0 -1.57 0" xyz="0.0 0.0 0.0"/>
    </collision>
  </link>
  <joint name="r2/fixed/left_index_distal/left_index_tip" type="fixed">
    <parent link="r2/left_index_distal"/>
    <child link="r2/left_index_tip"/>
    <origin rpy=" 0.0 -0.0 0.0 " xyz=" 0.024638 0.0 0.0 "/>
  </joint>
  <link name="r2/left_index_tip">
    <inertial>
      <mass value=".0010"/>
      <inertia ixx=".0010" ixy="0.0" ixz="0.0" iyy=".0010" iyz="0.0" izz=".0010"/>
    </inertial>
  </link>
  <link name="r2/left_middle_base">
    <inertial>
      <mass value=".0010"/>
      <inertia ixx=".0010" ixy="0.0" ixz="0.0" iyy=".0010" iyz="0.0" izz=".0010"/>
    </inertial>
  </link>
  <link name="r2/left_middle_yaw">
    <inertial>
      <mass value=".0010"/>
      <inertia ixx=".0010" ixy="0.0" ixz="0.0" iyy=".0010" iyz="0.0" izz=".0010"/>
    </inertial>
  </link>
  <joint name="r2/left_arm/hand/middle/joint1" type="revolute">
    <parent link="r2/left_middle_yaw"/>
    <child link="r2/left_middle_proximal"/>
    <origin rpy=" 1.570796 -0.0 0.0 " xyz=" 0.009652 0.0 0.0 "/>
    <axis xyz="0 0 1"/>
    <limit effort="10000000.0" lower="0.0" upper="1.57" velocity="1000"/>
    <dynamics damping="0.1" friction="0.0"/>
  </joint>
  <link name="r2/left_middle_proximal">
    <inertial>
      <mass value=".0010"/>
      <inertia ixx=".0010" ixy="0.0" ixz="0.0" iyy=".0010" iyz="0.0" izz=".0010"/>
    </inertial>
    <visual>
      <geometry>
        <mesh filename="package://r2_description/meshes/Finger_Proximal.dae"/>
      </geometry>
      <origin rpy="0 0 1.57" xyz="0.0 0.0 0.0"/>
    </visual>
    <collision>
      <geometry>
        <mesh filename="package://r2_description/meshes/Finger_Proximal.dae"/>
      </geometry>
      <origin rpy="0 0 1.57" xyz="0.0 0.0 0.0"/>
    </collision>
  </link>
  <joint name="r2/left_arm/hand/middle/joint2" type="revolute">
    <parent link="r2/left_middle_proximal"/>
    <child link="r2/left_middle_medial"/>
    <origin rpy=" 0.0 -0.0 0.0 " xyz=" 0.04445 0.0 0.0 "/>
    <axis xyz="0 0 1"/>
    <limit effort="10000000.0" lower="0.0" upper="1.57" velocity="1000"/>
    <dynamics damping="0.1" friction="0.0"/>
  </joint>
  <link name="r2/left_middle_medial">
    <inertial>
      <mass value=".0010"/>
      <inertia ixx=".0010" ixy="0.0" ixz="0.0" iyy=".0010" iyz="0.0" izz=".0010"/>
    </inertial>
    <visual>
      <geometry>
        <mesh filename="package://r2_description/meshes/Finger_Mid.dae"/>
      </geometry>
      <origin rpy="3.14 0 1.57" xyz="0.0 0.0 0.0"/>
    </visual>
    <collision>
      <geometry>
        <mesh filename="package://r2_description/meshes/Finger_Mid.dae"/>
      </geometry>
      <origin rpy="3.14 0 1.57" xyz="0.0 0.0 0.0"/>
    </collision>
  </link>
  <joint name="r2/left_arm/hand/middle/joint3" type="revolute">
    <parent link="r2/left_middle_medial"/>
    <child link="r2/left_middle_distal"/>
    <origin rpy=" 0.0 -0.0 0.0 " xyz=" 0.03048 0.0 0.0 "/>
    <axis xyz="0 0 1"/>
    <limit effort="10000000.0" lower="0.0" upper="1.57" velocity="1000"/>
    <dynamics damping="0.1" friction="0.0"/>
  </joint>
  <link name="r2/left_middle_distal">
    <inertial>
      <mass value=".0010"/>
      <inertia ixx=".0010" ixy="0.0" ixz="0.0" iyy=".0010" iyz="0.0" izz=".0010"/>
    </inertial>
    <visual>
      <geometry>
        <mesh filename="package://r2_description/meshes/Finger_Dist.dae"/>
      </geometry>
      <origin rpy="0 -1.57 0" xyz="0.0 0.0 0.0"/>
    </visual>
    <collision>
      <geometry>
        <mesh filename="package://r2_description/meshes/Finger_Dist.dae"/>
      </geometry>
      <origin rpy="0 -1.57 0" xyz="0.0 0.0 0.0"/>
    </collision>
  </link>
  <joint name="r2/fixed/left_middle_distal/left_middle_tip" type="fixed">
    <parent link="r2/left_middle_distal"/>
    <child link="r2/left_middle_tip"/>
    <origin rpy=" 0.0 -0.0 0.0 " xyz=" 0.024638 0.0 0.0 "/>
  </joint>
  <link name="r2/left_middle_tip">
    <inertial>
      <mass value=".0010"/>
      <inertia ixx=".0010" ixy="0.0" ixz="0.0" iyy=".0010" iyz="0.0" izz=".0010"/>
    </inertial>
  </link>
  <link name="r2/left_ring_proximal">
    <inertial>
      <mass value=".0010"/>
      <inertia ixx=".0010" ixy="0.0" ixz="0.0" iyy=".0010" iyz="0.0" izz=".0010"/>
    </inertial>
    <visual>
      <geometry>
        <mesh filename="package://r2_description/meshes/Finger_Proximal.dae"/>
      </geometry>
      <origin rpy="0 0 1.57" xyz="0.0 0.0 0.0"/>
    </visual>
    <collision>
      <geometry>
        <mesh filename="package://r2_description/meshes/Finger_Proximal.dae"/>
      </geometry>
      <origin rpy="0 0 1.57" xyz="0.0 0.0 0.0"/>
    </collision>
  </link>
  <joint name="r2/left_arm/hand/ring/joint1" type="revolute">
    <parent link="r2/left_ring_proximal"/>
    <child link="r2/left_ring_medial"/>
    <origin rpy=" 0.0 -0.0 0.0 " xyz=" 0.04445 0.0 0.0 "/>
    <axis xyz="0 0 1"/>
    <limit effort="10000000.0" lower="0" upper="2.9671" velocity="1000"/>
    <dynamics damping="0.1" friction="0.0"/>
  </joint>
  <link name="r2/left_ring_medial">
    <inertial>
      <mass value=".0010"/>
      <inertia ixx=".0010" ixy="0.0" ixz="0.0" iyy=".0010" iyz="0.0" izz=".0010"/>
    </inertial>
    <visual>
      <geometry>
        <mesh filename="package://r2_description/meshes/Finger_Mid.dae"/>
      </geometry>
      <origin rpy="3.14 0 1.57" xyz="0.0 0.0 0.0"/>
    </visual>
    <collision>
      <geometry>
        <mesh filename="package://r2_description/meshes/Finger_Mid.dae"/>
      </geometry>
      <origin rpy="3.14 0 1.57" xyz="0.0 0.0 0.0"/>
    </collision>
  </link>
  <joint name="r2/left_arm/hand/ring/joint2" type="revolute">
    <parent link="r2/left_ring_medial"/>
    <child link="r2/left_ring_distal"/>
    <origin rpy=" 0.0 -0.0 0.0 " xyz=" 0.03048 0.0 0.0 "/>
    <axis xyz="0 0 1"/>
    <limit effort="10000000.0" lower="0" upper="2.9671" velocity="1000"/>
    <dynamics damping="0.1" friction="0.0"/>
  </joint>
  <link name="r2/left_ring_distal">
    <inertial>
      <mass value=".0010"/>
      <inertia ixx=".0010" ixy="0.0" ixz="0.0" iyy=".0010" iyz="0.0" izz=".0010"/>
    </inertial>
    <visual>
      <geometry>
        <mesh filename="package://r2_description/meshes/Finger_Dist.dae"/>
      </geometry>
      <origin rpy="0 -1.57 0" xyz="0.0 0.0 0.0"/>
    </visual>
    <collision>
      <geometry>
        <mesh filename="package://r2_description/meshes/Finger_Dist.dae"/>
      </geometry>
      <origin rpy="0 -1.57 0" xyz="0.0 0.0 0.0"/>
    </collision>
  </link>
  <joint name="r2/fixed/left_ring_distal/left_ring_tip" type="fixed">
    <parent link="r2/left_ring_distal"/>
    <child link="r2/left_ring_tip"/>
    <origin rpy=" 0.0 -0.0 0.0 " xyz=" 0.024638 0.0 0.0 "/>
  </joint>
  <link name="r2/left_ring_tip">
    <inertial>
      <mass value=".0010"/>
      <inertia ixx=".0010" ixy="0.0" ixz="0.0" iyy=".0010" iyz="0.0" izz=".0010"/>
    </inertial>
  </link>
  <link name="r2/left_little_proximal">
    <inertial>
      <mass value=".0010"/>
      <inertia ixx=".0010" ixy="0.0" ixz="0.0" iyy=".0010" iyz="0.0" izz=".0010"/>
    </inertial>
    <visual>
      <geometry>
        <mesh filename="package://r2_description/meshes/Finger_Proximal.dae"/>
      </geometry>
      <origin rpy="0 0 1.57" xyz="0.0 0.0 0.0"/>
    </visual>
    <collision>
      <geometry>
        <mesh filename="package://r2_description/meshes/Finger_Proximal.dae"/>
      </geometry>
      <origin rpy="0 0 1.57" xyz="0.0 0.0 0.0"/>
    </collision>
  </link>
  <joint name="r2/left_arm/hand/little/joint1" type="revolute">
    <parent link="r2/left_little_proximal"/>
    <child link="r2/left_little_medial"/>
    <origin rpy=" 0.0 -0.0 0.0 " xyz=" 0.04445 0.0 0.0 "/>
    <axis xyz="0 0 1"/>
    <limit effort="10000000.0" lower="0" upper="2.9671" velocity="1000"/>
    <dynamics damping="0.1" friction="0.0"/>
  </joint>
  <link name="r2/left_little_medial">
    <inertial>
      <mass value=".0010"/>
      <inertia ixx=".0010" ixy="0.0" ixz="0.0" iyy=".0010" iyz="0.0" izz=".0010"/>
    </inertial>
    <visual>
      <geometry>
        <mesh filename="package://r2_description/meshes/Finger_Mid.dae"/>
      </geometry>
      <origin rpy="3.14 0 1.57" xyz="0.0 0.0 0.0"/>
    </visual>
    <collision>
      <geometry>
        <mesh filename="package://r2_description/meshes/Finger_Mid.dae"/>
      </geometry>
      <origin rpy="3.14 0 1.57" xyz="0.0 0.0 0.0"/>
    </collision>
  </link>
  <joint name="r2/left_arm/hand/little/joint2" type="revolute">
    <parent link="r2/left_little_medial"/>
    <child link="r2/left_little_distal"/>
    <origin rpy=" 0.0 -0.0 0.0 " xyz=" 0.03048 0.0 0.0 "/>
    <axis xyz="0 0 1"/>
    <limit effort="10000000.0" lower="0" upper="2.9671" velocity="1000"/>
    <dynamics damping="0.1" friction="0.0"/>
  </joint>
  <link name="r2/left_little_distal">
    <inertial>
      <mass value=".0010"/>
      <inertia ixx=".0010" ixy="0.0" ixz="0.0" iyy=".0010" iyz="0.0" izz=".0010"/>
    </inertial>
    <visual>
      <geometry>
        <mesh filename="package://r2_description/meshes/Finger_Dist.dae"/>
      </geometry>
      <origin rpy="0 -1.57 0" xyz="0.0 0.0 0.0"/>
    </visual>
    <collision>
      <geometry>
        <mesh filename="package://r2_description/meshes/Finger_Dist.dae"/>
      </geometry>
      <origin rpy="0 -1.57 0" xyz="0.0 0.0 0.0"/>
    </collision>
  </link>
  <joint name="r2/fixed/left_little_distal/left_little_tip" type="fixed">
    <parent link="r2/left_little_distal"/>
    <child link="r2/left_little_tip"/>
    <origin rpy=" 0.0 -0.0 0.0 " xyz=" 0.024638 0.0 0.0 "/>
  </joint>
  <link name="r2/left_little_tip">
    <inertial>
      <mass value=".0010"/>
      <inertia ixx=".0010" ixy="0.0" ixz="0.0" iyy=".0010" iyz="0.0" izz=".0010"/>
    </inertial>
  </link>
  <joint name="r2/right_arm/joint0" type="revolute">
    <parent link="r2/chest_base"/>
    <child link="r2/right_shoulder_roll"/>
    <origin rpy=" -1.5596 -0.0 -0.26157" xyz=" 0.0 -0.0 0.0"/>
    <axis xyz="0 0 1"/>
    <dynamics damping="10.0" friction="0.0"/>
    <limit effort="100.0" lower="-1.57" upper="1.57" velocity="1000"/>
  </joint>
  <link name="r2/right_shoulder_roll">
    <visual>
      <geometry>
        <mesh filename="package://r2_description/meshes/Right_Shoulder_Upper.dae"/>
      </geometry>
      <material name="dirty_white"/>
      <origin rpy="0 0 2.25" xyz="0 0 .0254"/>
    </visual>
    <!-- <collision>
      <geometry>
        <mesh filename="package://r2_description/meshes/Right_Shoulder_Upper.dae"/>
      </geometry>
      <origin rpy="0 0 2.35" xyz="0 0 .0254"/>
    </collision> -->
    <inertial>
      <origin xyz="0.0089916 -0.00131572  0.10287"/>
      <mass value="6.168856232"/>
      <inertia ixx="0.0198585269" ixy="0.0060195977" ixz="0.0003950635" iyy="0.0671900643" iyz="0.00012683" izz="0.0634150128"/>
    </inertial>
  </link>
  <joint name="r2/right_arm/joint1" type="revolute">
    <parent link="r2/right_shoulder_roll"/>
    <child link="r2/right_shoulder_pitch"/>
    <origin rpy=" 1.5637 -0.0 -1.570796" xyz=" 0.0 -0.0 0.320929"/>
    <axis xyz="0 0 1"/>
    <dynamics damping="10.0" friction="0.0"/>
    <limit effort="100.0" lower="-1.66" upper=".175" velocity="1000"/>
  </joint>
  <link name="r2/right_shoulder_pitch">
    <visual>
      <geometry>
        <mesh filename="package://r2_description/meshes/Right_Shoulder_Lower.dae"/>
      </geometry>
      <material name="dirty_white"/>
      <origin rpy=".0 0 1.57" xyz="0 0 0"/>
    </visual>
    <!--   <collision>
      <geometry>
        <mesh filename="package://r2_description/meshes/Right_Shoulder_Lower.dae"/>
      </geometry>
      <origin rpy=".0 0 1.57" xyz="0 0 0"/>
    </collision> -->
    <inertial>
      <origin xyz="0.0077978 0.037084 0.00028448"/>
      <mass value="4.4270615312"/>
      <inertia ixx="0.0113836825" ixy="-.0000217138622526" ixz="-.001512947" iyy="0.0251962741" iyz="-0.000052382497887" izz="0.02701064"/>
    </inertial>
  </link>
  <joint name="r2/right_arm/joint2" type="revolute">
    <parent link="r2/right_shoulder_pitch"/>
    <child link="r2/right_upper_arm"/>
    <origin rpy=" -1.5679 -0.0 0.0" xyz=" 0.0 0.0 0.0"/>
    <axis xyz="0 0 1"/>
    <dynamics damping="10.0" friction="0.0"/>
    <limit effort="100.0" lower="0.785" upper="4.89" velocity="1000"/>
  </joint>
  <link name="r2/right_upper_arm">
    <visual>
      <geometry>
        <mesh filename="package://r2_description/meshes/Right_Upper_Arm.dae"/>
      </geometry>
      <material name="dirty_white"/>
      <origin rpy="0 0 0" xyz="0 0 .1016"/>
    </visual>
    <collision>
      <geometry>
        <mesh filename="package://r2_description/meshes/Right_Upper_Arm.dae"/>
      </geometry>
      <origin rpy="0 0 0" xyz="0 0 .1016"/>
    </collision>
    <inertial>
      <origin xyz="0.041402  -0.0074168  0.1016"/>
      <mass value="4.853438359"/>
      <inertia ixx="0.04214011" ixy="-0.0013754064" ixz="-0.0065843922" iyy="0.0462370652" iyz="-0.00339462" izz="0.016007389"/>
    </inertial>
  </link>
  <joint name="r2/right_arm/joint3" type="revolute">
    <parent link="r2/right_upper_arm"/>
    <child link="r2/right_elbow"/>
    <origin rpy=" 1.5684 -0.0 0.0" xyz=" 0.0536067 0.0 0.355219"/>
    <axis xyz="0 0 1"/>
    <dynamics damping="1.0" friction="0.0"/>
    <limit effort="100.0" lower="-2.79" upper="-.087" velocity="1000"/>
  </joint>
  <link name="r2/right_elbow">
    <visual>
      <geometry>
        <mesh filename="package://r2_description/meshes/Right_Elbow.dae"/>
      </geometry>
      <material name="dirty_white"/>
      <origin rpy="0 0 1.57" xyz="0 0 0"/>
    </visual>
    <collision>
      <geometry>
        <mesh filename="package://r2_description/meshes/Right_Elbow.dae"/>
      </geometry>
      <origin rpy="0 0 1.57" xyz="0 0 0"/>
    </collision>
    <inertial>
      <origin xyz=" -0.026162  0.033782 0.0154432"/>
      <mass value="2.9710300235"/>
      <inertia ixx="0.0120274897" ixy="-0.001188117" ixz="0.0016417085" iyy="0.0088377175" iyz="-0.0031605083" izz="0.0105350275"/>
    </inertial>
  </link>
  <joint name="r2/right_arm/joint4" type="revolute">
    <parent link="r2/right_elbow"/>
    <child link="r2/right_lower_arm"/>
    <origin rpy=" -1.5656 -0.0 0.0" xyz=" -0.0537464 -0.0 0.0"/>
    <axis xyz="0 0 1"/>
    <dynamics damping="1.0" friction="0.0"/>
    <limit effort="100.0" lower="-4.45" upper="1.31" velocity="1000"/>
  </joint>
  <link name="r2/right_lower_arm">
    <visual>
      <geometry>
        <mesh filename="package://r2_description/meshes/Right_Forearm.dae"/>
      </geometry>
      <material name="dirty_white"/>
      <origin xyz="0 0 0.1"/>
    </visual>
    <collision>
      <geometry>
        <mesh filename="package://r2_description/meshes/Right_Forearm.dae"/>
      </geometry>
      <origin xyz="0 0 0.1"/>
    </collision>
    <inertial>
      <origin xyz="0.0003556 -0.00122682 0.17653"/>
      <mass value="6.939963261"/>
      <inertia ixx="0.0125249771" ixy="0.0002446467" ixz="0.0005208986" iyy="0.0395063532" iyz="0.0001691457" izz="0.0403842721"/>
    </inertial>
  </link>
  <joint name="r2/right_arm/joint5" type="revolute">
    <parent link="r2/right_lower_arm"/>
    <child link="r2/right_wrist_pitch"/>
    <origin rpy=" 1.5329 -0.0 0.0" xyz=" 0.0 0.0 0.3569462"/>
    <axis xyz="0 0 1"/>
    <dynamics damping="1.0" friction="0.0"/>
    <limit effort="100.0" lower="-1.22" upper="1.22" velocity="1000"/>
  </joint>
  <link name="r2/right_wrist_pitch">
    <inertial>
      <origin xyz="0.00092202 -0.004064 0.000000152908"/>
      <mass value="0.1165732391"/>
      <inertia ixx="0.1" ixy="0.0" ixz="0.0" iyy="0.1" iyz="0.0" izz="0.1"/>
    </inertial>
  </link>
  <joint name="r2/right_arm/joint6" type="revolute">
    <parent link="r2/right_wrist_pitch"/>
    <child link="r2/right_wrist_yaw"/>
    <origin rpy=" 1.5612 -0.0 1.5923" xyz=" -0.000139607 0.006491247 0.0"/>
    <axis xyz="0 0 1"/>
    <dynamics damping="1.0" friction="0.0"/>
    <limit effort="100.0" lower="-0.785" upper="0.785" velocity="1000"/>
  </joint>
  <link name="r2/right_wrist_yaw">
    <inertial>
      <origin xyz="0.067564 0.00090932 0.0253746"/>
      <mass value="0.1"/>
      <inertia ixx="0.1" ixy="0.0" ixz="0.0" iyy="0.1" iyz="0.0" izz="0.1"/>
    </inertial>
  </link>
  <joint name="r2/fixed/right_wrist_yaw/right_palm" type="fixed">
    <parent link="r2/right_wrist_yaw"/>
    <child link="r2/right_palm"/>
    <origin rpy=" 0.0 -0.0 0.0299" xyz=" 0.0 0.0 0.0"/>
  </joint>
  <link name="r2/right_palm">
    <visual>
      <geometry>
        <mesh filename="package://r2_description/meshes/Right_Palm.dae"/>
      </geometry>
      <origin rpy="3.14 0 1.57" xyz="0.0 0.0 -0.0"/>
    </visual>
    <collision>
      <geometry>
        <mesh filename="package://r2_description/meshes/Right_Palm.dae"/>
      </geometry>
      <origin rpy="3.14 0 1.57" xyz="0.0 0.0 -0.0"/>
    </collision>
    <inertial>
      <mass value="1.1"/>
      <inertia ixx="0.1" ixy="0.0" ixz="0.0" iyy="0.1" iyz="0.0" izz="0.1"/>
    </inertial>
  </link>
  <joint name="r2/right_arm/hand/thumb/joint0" type="revolute">
    <parent link="r2/right_wrist_yaw"/>
    <child link="r2/right_thumb_base"/>
    <origin rpy=" 1.57079632679 0.174532791018 -1.30899687745 " xyz="0.03302 -0.03048 0.00635 "/>
    <axis xyz="0 0 1"/>
    <limit effort="10000000.0" lower="0.0" upper="1.2217" velocity="1000"/>
    <dynamics damping="0.1" friction="0.0"/>
  </joint>
  <joint name="r2/fixed/right_index_base/right_index_base" type="fixed">
    <parent link="r2/right_wrist_yaw"/>
    <child link="r2/right_index_base"/>
    <origin rpy=" 0.0 -0.0 -0.122172725275  " xyz=" 0.0994646728 -0.0271119346 -0.0161544 "/>
  </joint>
  <joint name="r2/right_arm/hand/index/joint0" type="revolute">
    <parent link="r2/right_index_base"/>
    <child link="r2/right_index_yaw"/>
    <origin rpy="0.0 0.0 0.0" xyz="0.0 0.0 0.0"/>
    <axis xyz="0 0 1"/>
    <limit effort="10000000.0" lower="-0.3491" upper="0.3491" velocity="1000"/>
    <dynamics damping="0.1" friction="0.0"/>
  </joint>
  <joint name="r2/fixed/right_middle_base/right_middle_base" type="fixed">
    <parent link="r2/right_wrist_yaw"/>
    <child link="r2/right_middle_base"/>
    <origin rpy=" 0.0 -0.0 0.0 " xyz="0.10646537 -0.00254 -0.0161544 "/>
  </joint>
  <joint name="r2/right_arm/hand/middle/joint0" type="revolute">
    <parent link="r2/right_middle_base"/>
    <child link="r2/right_middle_yaw"/>
    <origin rpy="0.0 0.0 0.0" xyz="0.0 0.0 0.0"/>
    <axis xyz="0 0 1"/>
    <limit effort="10000000.0" lower="-0.3491" upper="0.3491" velocity="1000"/>
    <dynamics damping="0.1" friction="0.0"/>
  </joint>
  <joint name="r2/right_arm/hand/ring/joint0" type="revolute">
    <parent link="r2/right_wrist_yaw"/>
    <child link="r2/right_ring_proximal"/>
    <origin rpy=" 1.57079632679 -0.0 0.122172725275  " xyz=" 0.1084539614 0.019792569 -0.012319 "/>
    <axis xyz="0 0 1"/>
    <limit effort="10000000.0" lower="0" upper="2.9671" velocity="1000"/>
    <dynamics damping="0.1" friction="0.0"/>
  </joint>
  <joint name="r2/right_arm/hand/little/joint0" type="revolute">
    <parent link="r2/right_wrist_yaw"/>
    <child link="r2/right_little_proximal"/>
    <origin rpy=" 1.53588943985 -0.0872667473393 0.17453258148  " xyz=" 0.094635701 0.0403792436 -0.0060878212 "/>
    <axis xyz="0 0 1"/>
    <limit effort="10000000.0" lower="0" upper="2.9671" velocity="1000"/>
    <dynamics damping="0.1" friction="0.0"/>
  </joint>
  <link name="r2/right_thumb_base">
    <inertial>
      <mass value=".05"/>
      <inertia ixx=".0010" ixy="0.0" ixz="0.0" iyy=".0010" iyz="0.0" izz=".0010"/>
    </inertial>
  </link>
  <joint name="r2/fixed/right_thumb_base/right_thumb_proximal" type="fixed">
    <parent link="r2/right_thumb_base"/>
    <child link="r2/right_thumb_proximal"/>
    <origin rpy=" -1.570796 -0.0 0.0 " xyz=" 0.011938 0.0 0.0 "/>
  </joint>
  <link name="r2/right_thumb_proximal">
    <inertial>
      <mass value=".05"/>
      <inertia ixx=".0010" ixy="0.0" ixz="0.0" iyy=".0010" iyz="0.0" izz=".0010"/>
    </inertial>
    <visual>
      <geometry>
        <mesh filename="package://r2_description/meshes/Left_Thumb_Carp.dae"/>
      </geometry>
      <origin rpy="-1.57 0 0" xyz="-0.01 0.0 0.0"/>
    </visual>
    <collision>
      <geometry>
        <mesh filename="package://r2_description/meshes/Left_Thumb_Carp.dae" scale="0.9 0.9 0.9"/>
      </geometry>
      <origin rpy="-1.57 0 0" xyz="-0.01 0.0 0.0"/>
    </collision>
  </link>
  <joint name="r2/right_arm/hand/thumb/joint1" type="revolute">
    <parent link="r2/right_thumb_proximal"/>
    <child link="r2/right_thumb_medial_prime"/>
    <origin rpy=" 0.0 -0.0 0.0 " xyz=" 0.0 0.0 0.0 "/>
    <axis xyz="0 0 1"/>
    <limit effort="10000000.0" lower="0.0" upper="1.3963" velocity="1000"/>
    <dynamics damping="0.1" friction="0.0"/>
  </joint>
  <link name="r2/right_thumb_medial_prime">
    <inertial>
      <mass value=".05"/>
      <inertia ixx=".0010" ixy="0.0" ixz="0.0" iyy=".0010" iyz="0.0" izz=".0010"/>
    </inertial>
    <visual>
      <geometry>
        <mesh filename="package://r2_description/meshes/Right_Thumb_MtCar.dae"/>
      </geometry>
      <origin rpy="-1.57 -1.57 0 " xyz="-0.0 0 0.0"/>
    </visual>
    <collision>
      <geometry>
        <mesh filename="package://r2_description/meshes/Right_Thumb_MtCar.dae" scale="0.9 0.9 0.9"/>
      </geometry>
      <origin rpy="-1.57 -1.57 0 " xyz="-0.0 0 0.0"/>
    </collision>
  </link>
  <joint name="r2/right_arm/hand/thumb/joint2" type="revolute">
    <parent link="r2/right_thumb_medial_prime"/>
    <child link="r2/right_thumb_medial"/>
    <origin rpy=" 0.698132284627 -0.0 0.0 " xyz=" 0.030734 -0.001905 -0.00254 "/>
    <axis xyz="0 0 1"/>
    <limit effort="10000000.0" lower="0.0" upper="1.2217" velocity="1000"/>
    <dynamics damping="0.1" friction="0.0"/>
  </joint>
  <link name="r2/right_thumb_medial">
    <inertial>
      <mass value=".05"/>
      <inertia ixx=".0010" ixy="0.0" ixz="0.0" iyy=".0010" iyz="0.0" izz=".0010"/>
    </inertial>
    <visual>
      <geometry>
        <mesh filename="package://r2_description/meshes/Thumb_Proximal.dae"/>
      </geometry>
      <origin rpy="3.14 0 1.57" xyz="0.0 0.0 0.0"/>
    </visual>
    <collision>
      <geometry>
        <mesh filename="package://r2_description/meshes/Thumb_Proximal.dae"/>
      </geometry>
      <origin rpy="3.14 0 1.57" xyz="0.0 0.0 0.0"/>
    </collision>
  </link>
  <joint name="r2/right_arm/hand/thumb/joint3" type="revolute">
    <parent link="r2/right_thumb_medial"/>
    <child link="r2/right_thumb_distal"/>
    <origin rpy=" 0.0 -0.0 0.0 " xyz=" 0.03937 0.0 0.0 "/>
    <axis xyz="0 0 1"/>
    <limit effort="10000000.0" lower="-0.5236" upper="1.57" velocity="1000"/>
    <dynamics damping="0.1" friction="0.0"/>
  </joint>
  <link name="r2/right_thumb_distal">
    <inertial>
      <mass value=".05"/>
      <inertia ixx=".0010" ixy="0.0" ixz="0.0" iyy=".0010" iyz="0.0" izz=".0010"/>
    </inertial>
    <visual>
      <geometry>
        <mesh filename="package://r2_description/meshes/Thumb_Dist.dae"/>
      </geometry>
      <origin rpy="3.14 3.14 0" xyz="0.0 0.0 0.0"/>
    </visual>
    <collision>
      <geometry>
        <mesh filename="package://r2_description/meshes/Thumb_Dist.dae"/>
      </geometry>
      <origin rpy="3.14 3.14 0" xyz="0.0 0.0 0.0"/>
    </collision>
  </link>
  <joint name="r2/fixed/right_thumb_distal/right_thumb_tip" type="fixed">
    <parent link="r2/right_thumb_distal"/>
    <child link="r2/right_thumb_tip"/>
    <origin rpy=" 0.0 -0.0 0.0 " xyz=" 0.03302 0.0 0.0 "/>
  </joint>
  <link name="r2/right_thumb_tip">
    <inertial>
      <mass value=".05"/>
      <inertia ixx=".0010" ixy="0.0" ixz="0.0" iyy=".0010" iyz="0.0" izz=".0010"/>
    </inertial>
  </link>
  <link name="r2/right_index_base">
    <inertial>
      <mass value=".05"/>
      <inertia ixx=".0010" ixy="0.0" ixz="0.0" iyy=".0010" iyz="0.0" izz=".0010"/>
    </inertial>
  </link>
  <link name="r2/right_index_yaw">
    <inertial>
      <mass value=".05"/>
      <inertia ixx=".0010" ixy="0.0" ixz="0.0" iyy=".0010" iyz="0.0" izz=".0010"/>
    </inertial>
  </link>
  <joint name="r2/right_arm/hand/index/joint1" type="revolute">
    <parent link="r2/right_index_yaw"/>
    <child link="r2/right_index_proximal"/>
    <origin rpy=" 1.570796 -0.0 0.0 " xyz=" 0.009652 0.0 0.0 "/>
    <axis xyz="0 0 1"/>
    <limit effort="10000000.0" lower="0.0" upper="1.57" velocity="1000"/>
    <dynamics damping="0.1" friction="0.0"/>
  </joint>
  <link name="r2/right_index_proximal">
    <inertial>
      <mass value=".05"/>
      <inertia ixx=".0010" ixy="0.0" ixz="0.0" iyy=".0010" iyz="0.0" izz=".0010"/>
    </inertial>
    <visual>
      <geometry>
        <mesh filename="package://r2_description/meshes/Finger_Proximal.dae"/>
      </geometry>
      <origin rpy="0 0 1.57" xyz="0.0 0.0 0.0"/>
    </visual>
    <collision>
      <geometry>
        <mesh filename="package://r2_description/meshes/Finger_Proximal.dae"/>
      </geometry>
      <origin rpy="0 0 1.57" xyz="0.0 0.0 0.0"/>
    </collision>
  </link>
  <joint name="r2/right_arm/hand/index/joint2" type="revolute">
    <parent link="r2/right_index_proximal"/>
    <child link="r2/right_index_medial"/>
    <origin rpy=" 0.0 -0.0 0.0 " xyz=" 0.04445 0.0 0.0 "/>
    <axis xyz="0 0 1"/>
    <limit effort="10000000.0" lower="0.0" upper="1.57" velocity="1000"/>
    <dynamics damping="0.1" friction="0.0"/>
  </joint>
  <link name="r2/right_index_medial">
    <inertial>
      <mass value=".05"/>
      <inertia ixx=".0010" ixy="0.0" ixz="0.0" iyy=".0010" iyz="0.0" izz=".0010"/>
    </inertial>
    <visual>
      <geometry>
        <mesh filename="package://r2_description/meshes/Finger_Mid.dae"/>
      </geometry>
      <origin rpy="3.14 0 1.57" xyz="0.0 0.0 0.0"/>
    </visual>
    <collision>
      <geometry>
        <mesh filename="package://r2_description/meshes/Finger_Mid.dae"/>
      </geometry>
      <origin rpy="3.14 0 1.57" xyz="0.0 0.0 0.0"/>
    </collision>
  </link>
  <joint name="r2/right_arm/hand/index/joint3" type="revolute">
    <parent link="r2/right_index_medial"/>
    <child link="r2/right_index_distal"/>
    <origin rpy=" 0.0 -0.0 0.0 " xyz=" 0.03048 0.0 0.0 "/>
    <axis xyz="0 0 1"/>
    <limit effort="10000000.0" lower="0.0" upper="1.57" velocity="1000"/>
    <dynamics damping="0.1" friction="0.0"/>
  </joint>
  <link name="r2/right_index_distal">
    <inertial>
      <mass value=".05"/>
      <inertia ixx=".0010" ixy="0.0" ixz="0.0" iyy=".0010" iyz="0.0" izz=".0010"/>
    </inertial>
    <visual>
      <geometry>
        <mesh filename="package://r2_description/meshes/Finger_Dist.dae"/>
      </geometry>
      <origin rpy="0 -1.57 0" xyz="0.0 0.0 0.0"/>
    </visual>
    <collision>
      <geometry>
        <mesh filename="package://r2_description/meshes/Finger_Dist.dae"/>
      </geometry>
      <origin rpy="0 -1.57 0" xyz="0.0 0.0 0.0"/>
    </collision>
  </link>
  <joint name="r2/fixed/right_index_distal/right_index_tip" type="fixed">
    <parent link="r2/right_index_distal"/>
    <child link="r2/right_index_tip"/>
    <origin rpy=" 0.0 -0.0 0.0 " xyz=" 0.024638 0.0 0.0 "/>
  </joint>
  <link name="r2/right_index_tip">
    <inertial>
      <mass value=".05"/>
      <inertia ixx=".0010" ixy="0.0" ixz="0.0" iyy=".0010" iyz="0.0" izz=".0010"/>
    </inertial>
  </link>
  <link name="r2/right_middle_base">
    <inertial>
      <mass value=".0010"/>
      <inertia ixx=".0010" ixy="0.0" ixz="0.0" iyy=".0010" iyz="0.0" izz=".0010"/>
    </inertial>
  </link>
  <link name="r2/right_middle_yaw">
    <inertial>
      <mass value=".0010"/>
      <inertia ixx=".0010" ixy="0.0" ixz="0.0" iyy=".0010" iyz="0.0" izz=".0010"/>
    </inertial>
  </link>
  <joint name="r2/right_arm/hand/middle/joint1" type="revolute">
    <parent link="r2/right_middle_yaw"/>
    <child link="r2/right_middle_proximal"/>
    <origin rpy=" 1.570796 -0.0 0.0 " xyz=" 0.009652 0.0 0.0 "/>
    <axis xyz="0 0 1"/>
    <limit effort="10000000.0" lower="0.0" upper="1.57" velocity="1000"/>
    <dynamics damping="0.1" friction="0.0"/>
  </joint>
  <link name="r2/right_middle_proximal">
    <inertial>
      <mass value=".05"/>
      <inertia ixx=".0010" ixy="0.0" ixz="0.0" iyy=".0010" iyz="0.0" izz=".0010"/>
    </inertial>
    <visual>
      <geometry>
        <mesh filename="package://r2_description/meshes/Finger_Proximal.dae"/>
      </geometry>
      <origin rpy="0 0 1.57" xyz="0.0 0.0 0.0"/>
    </visual>
    <collision>
      <geometry>
        <mesh filename="package://r2_description/meshes/Finger_Proximal.dae" scale="0.9 0.9 0.9"/>
      </geometry>
      <origin rpy="0 0 1.57" xyz="0.0 0.0 0.0"/>
    </collision>
  </link>
  <joint name="r2/right_arm/hand/middle/joint2" type="revolute">
    <parent link="r2/right_middle_proximal"/>
    <child link="r2/right_middle_medial"/>
    <origin rpy=" 0.0 -0.0 0.0 " xyz=" 0.04445 0.0 0.0 "/>
    <axis xyz="0 0 1"/>
    <limit effort="10000000.0" lower="0.0" upper="1.57" velocity="1000"/>
    <dynamics damping="0.1" friction="0.0"/>
  </joint>
  <link name="r2/right_middle_medial">
    <inertial>
      <mass value=".05"/>
      <inertia ixx=".0010" ixy="0.0" ixz="0.0" iyy=".0010" iyz="0.0" izz=".0010"/>
    </inertial>
    <visual>
      <geometry>
        <mesh filename="package://r2_description/meshes/Finger_Mid.dae"/>
      </geometry>
      <origin rpy="3.14 0 1.57" xyz="0.0 0.0 0.0"/>
    </visual>
    <collision>
      <geometry>
        <mesh filename="package://r2_description/meshes/Finger_Mid.dae" scale="0.9 0.9 0.9"/>
      </geometry>
      <origin rpy="3.14 0 1.57" xyz="0.0 0.0 0.0"/>
    </collision>
  </link>
  <joint name="r2/right_arm/hand/middle/joint3" type="revolute">
    <parent link="r2/right_middle_medial"/>
    <child link="r2/right_middle_distal"/>
    <origin rpy=" 0.0 -0.0 0.0 " xyz=" 0.03048 0.0 0.0 "/>
    <axis xyz="0 0 1"/>
    <limit effort="10000000.0" lower="0.0" upper="1.57" velocity="1000"/>
    <dynamics damping="0.1" friction="0.0"/>
  </joint>
  <link name="r2/right_middle_distal">
    <inertial>
      <mass value=".05"/>
      <inertia ixx=".0010" ixy="0.0" ixz="0.0" iyy=".0010" iyz="0.0" izz=".0010"/>
    </inertial>
    <visual>
      <geometry>
        <mesh filename="package://r2_description/meshes/Finger_Dist.dae"/>
      </geometry>
      <origin rpy="0 -1.57 0" xyz="0.0 0.0 0.0"/>
    </visual>
    <collision>
      <geometry>
        <mesh filename="package://r2_description/meshes/Finger_Dist.dae" scale="0.9 0.9 0.9"/>
      </geometry>
      <origin rpy="0 -1.57 0" xyz="0.0 0.0 0.0"/>
    </collision>
  </link>
  <joint name="r2/fixed/right_middle_distal/right_middle_tip" type="fixed">
    <parent link="r2/right_middle_distal"/>
    <child link="r2/right_middle_tip"/>
    <origin rpy=" 0.0 -0.0 0.0 " xyz=" 0.024638 0.0 0.0 "/>
  </joint>
  <link name="r2/right_middle_tip">
    <inertial>
      <mass value=".05"/>
      <inertia ixx=".0010" ixy="0.0" ixz="0.0" iyy=".0010" iyz="0.0" izz=".0010"/>
    </inertial>
  </link>
  <link name="r2/right_ring_proximal">
    <inertial>
      <mass value=".05"/>
      <inertia ixx=".0010" ixy="0.0" ixz="0.0" iyy=".0010" iyz="0.0" izz=".0010"/>
    </inertial>
    <visual>
      <geometry>
        <mesh filename="package://r2_description/meshes/Finger_Proximal.dae"/>
      </geometry>
      <origin rpy="0 0 1.57" xyz="0.0 0.0 0.0"/>
    </visual>
    <collision>
      <geometry>
        <mesh filename="package://r2_description/meshes/Finger_Proximal.dae" scale="0.9 0.9 0.9"/>
      </geometry>
      <origin rpy="0 0 1.57" xyz="0.0 0.0 0.0"/>
    </collision>
  </link>
  <joint name="r2/right_arm/hand/ring/joint1" type="revolute">
    <parent link="r2/right_ring_proximal"/>
    <child link="r2/right_ring_medial"/>
    <origin rpy=" 0.0 -0.0 0.0 " xyz=" 0.04445 0.0 0.0 "/>
    <axis xyz="0 0 1"/>
    <limit effort="10000000.0" lower="0" upper="2.9671" velocity="1000"/>
    <dynamics damping="0.1" friction="0.0"/>
  </joint>
  <link name="r2/right_ring_medial">
    <inertial>
      <mass value=".05"/>
      <inertia ixx=".0010" ixy="0.0" ixz="0.0" iyy=".0010" iyz="0.0" izz=".0010"/>
    </inertial>
    <visual>
      <geometry>
        <mesh filename="package://r2_description/meshes/Finger_Mid.dae"/>
      </geometry>
      <origin rpy="3.14 0 1.57" xyz="0.0 0.0 0.0"/>
    </visual>
    <collision>
      <geometry>
        <mesh filename="package://r2_description/meshes/Finger_Mid.dae" scale="0.9 0.9 0.9"/>
      </geometry>
      <origin rpy="3.14 0 1.57" xyz="0.0 0.0 0.0"/>
    </collision>
  </link>
  <joint name="r2/right_arm/hand/ring/joint2" type="revolute">
    <parent link="r2/right_ring_medial"/>
    <child link="r2/right_ring_distal"/>
    <origin rpy=" 0.0 -0.0 0.0 " xyz=" 0.03048 0.0 0.0 "/>
    <axis xyz="0 0 1"/>
    <limit effort="10000000.0" lower="0" upper="2.9671" velocity="1000"/>
    <dynamics damping="0.1" friction="0.0"/>
  </joint>
  <link name="r2/right_ring_distal">
    <inertial>
      <mass value=".05"/>
      <inertia ixx=".0010" ixy="0.0" ixz="0.0" iyy=".0010" iyz="0.0" izz=".0010"/>
    </inertial>
    <visual>
      <geometry>
        <mesh filename="package://r2_description/meshes/Finger_Dist.dae"/>
      </geometry>
      <origin rpy="0 -1.57 0" xyz="0.0 0.0 0.0"/>
    </visual>
    <collision>
      <geometry>
        <mesh filename="package://r2_description/meshes/Finger_Dist.dae" scale="0.9 0.9 0.9"/>
      </geometry>
      <origin rpy="0 -1.57 0" xyz="0.0 0.0 0.0"/>
    </collision>
  </link>
  <joint name="r2/fixed/right_ring_distal/right_ring_tip" type="fixed">
    <parent link="r2/right_ring_distal"/>
    <child link="r2/right_ring_tip"/>
    <origin rpy=" 0.0 -0.0 0.0 " xyz=" 0.024638 0.0 0.0 "/>
  </joint>
  <link name="r2/right_ring_tip">
    <inertial>
      <mass value=".05"/>
      <inertia ixx=".0010" ixy="0.0" ixz="0.0" iyy=".0010" iyz="0.0" izz=".0010"/>
    </inertial>
  </link>
  <link name="r2/right_little_proximal">
    <inertial>
      <mass value=".05"/>
      <inertia ixx=".0010" ixy="0.0" ixz="0.0" iyy=".0010" iyz="0.0" izz=".0010"/>
    </inertial>
    <visual>
      <geometry>
        <mesh filename="package://r2_description/meshes/Finger_Proximal.dae"/>
      </geometry>
      <origin rpy="0 0 1.57" xyz="0.0 0.0 0.0"/>
    </visual>
    <collision>
      <geometry>
        <mesh filename="package://r2_description/meshes/Finger_Proximal.dae" scale="0.9 0.9 0.9"/>
      </geometry>
      <origin rpy="0 0 1.57" xyz="0.0 0.0 0.0"/>
    </collision>
  </link>
  <joint name="r2/right_arm/hand/little/joint1" type="revolute">
    <parent link="r2/right_little_proximal"/>
    <child link="r2/right_little_medial"/>
    <origin rpy=" 0.0 -0.0 0.0 " xyz=" 0.04445 0.0 0.0 "/>
    <axis xyz="0 0 1"/>
    <limit effort="10000000.0" lower="0" upper="2.9671" velocity="1000"/>
    <dynamics damping="0.1" friction="0.0"/>
  </joint>
  <link name="r2/right_little_medial">
    <inertial>
      <mass value=".05"/>
      <inertia ixx=".0010" ixy="0.0" ixz="0.0" iyy=".0010" iyz="0.0" izz=".0010"/>
    </inertial>
    <visual>
      <geometry>
        <mesh filename="package://r2_description/meshes/Finger_Mid.dae"/>
      </geometry>
      <origin rpy="3.14 0 1.57" xyz="0.0 0.0 0.0"/>
    </visual>
    <collision>
      <geometry>
        <mesh filename="package://r2_description/meshes/Finger_Mid.dae" scale="0.9 0.9 0.9"/>
      </geometry>
      <origin rpy="3.14 0 1.57" xyz="0.0 0.0 0.0"/>
    </collision>
  </link>
  <joint name="r2/right_arm/hand/little/joint2" type="revolute">
    <parent link="r2/right_little_medial"/>
    <child link="r2/right_little_distal"/>
    <origin rpy=" 0.0 -0.0 0.0 " xyz=" 0.03048 0.0 0.0 "/>
    <axis xyz="0 0 1"/>
    <limit effort="10000000.0" lower="0" upper="2.9671" velocity="1000"/>
    <dynamics damping="0.1" friction="0.0"/>
  </joint>
  <link name="r2/right_little_distal">
    <inertial>
      <mass value=".05"/>
      <inertia ixx=".0010" ixy="0.0" ixz="0.0" iyy=".0010" iyz="0.0" izz=".0010"/>
    </inertial>
    <visual>
      <geometry>
        <mesh filename="package://r2_description/meshes/Finger_Dist.dae"/>
      </geometry>
      <origin rpy="0 -1.57 0" xyz="0.0 0.0 0.0"/>
    </visual>
    <collision>
      <geometry>
        <mesh filename="package://r2_description/meshes/Finger_Dist.dae" scale="0.9 0.9 0.9"/>
      </geometry>
      <origin rpy="0 -1.57 0" xyz="0.0 0.0 0.0"/>
    </collision>
  </link>
  <joint name="r2/fixed/right_little_distal/right_little_tip" type="fixed">
    <parent link="r2/right_little_distal"/>
    <child link="r2/right_little_tip"/>
    <origin rpy=" 0.0 -0.0 0.0 " xyz=" 0.024638 0.0 0.0 "/>
  </joint>
  <link name="r2/right_little_tip">
    <inertial>
      <mass value=".05"/>
      <inertia ixx=".0010" ixy="0.0" ixz="0.0" iyy=".0010" iyz="0.0" izz=".0010"/>
    </inertial>
  </link>
  <gazebo reference="r2/waist_center">
    <selfCollide>false</selfCollide>
    <static>false</static>
    <turnGravityOff>false</turnGravityOff>
  </gazebo>
  <gazebo reference="r2/waist/joint0">
    <stopKd value="0.0"/>
    <stopKp value="1000.0"/>
  </gazebo>
  <gazebo reference="r2/left_shoulder_roll">
    <selfCollide>false</selfCollide>
    <static>false</static>
    <turnGravityOff>false</turnGravityOff>
  </gazebo>
  <gazebo reference="r2/left_shoulder_pitch">
    <selfCollide>false</selfCollide>
    <static>false</static>
    <turnGravityOff>false</turnGravityOff>
  </gazebo>
  <gazebo reference="r2/left_upper_arm">
    <selfCollide>false</selfCollide>
    <static>false</static>
    <turnGravityOff>false</turnGravityOff>
  </gazebo>
  <gazebo reference="r2/left_elbow">
    <selfCollide>false</selfCollide>
    <static>false</static>
    <turnGravityOff>false</turnGravityOff>
  </gazebo>
  <gazebo reference="r2/left_lower_arm">
    <selfCollide>false</selfCollide>
    <static>false</static>
    <turnGravityOff>false</turnGravityOff>
  </gazebo>
  <gazebo reference="r2/left_wrist_pitch">
    <selfCollide>false</selfCollide>
    <static>false</static>
    <turnGravityOff>false</turnGravityOff>
  </gazebo>
  <gazebo reference="r2/left_wrist_yaw">
    <selfCollide>false</selfCollide>
    <static>false</static>
    <turnGravityOff>false</turnGravityOff>
  </gazebo>
  <gazebo reference="r2/left_palm">
    <selfCollide>false</selfCollide>
    <static>false</static>
    <turnGravityOff>false</turnGravityOff>
  </gazebo>
  <gazebo reference="r2/left_arm/joint0">
    <stopKd value="0.0"/>
    <stopKp value="1000.0"/>
  </gazebo>
  <gazebo reference="r2/left_arm/joint1">
    <stopKd value="0.0"/>
    <stopKp value="1000.0"/>
  </gazebo>
  <gazebo reference="r2/left_arm/joint2">
    <stopKd value="0.0"/>
    <stopKp value="1000.0"/>
  </gazebo>
  <gazebo reference="r2/left_arm/joint3">
    <stopKd value="0.0"/>
    <stopKp value="1000.0"/>
  </gazebo>
  <gazebo reference="r2/left_arm/joint4">
    <stopKd value="0.0"/>
    <stopKp value="1000.0"/>
  </gazebo>
  <gazebo reference="r2/left_arm/joint5">
    <stopKd value="0.0"/>
    <stopKp value="1000.0"/>
  </gazebo>
  <gazebo reference="r2/left_arm/joint6">
    <stopKd value="0.0"/>
    <stopKp value="1000.0"/>
  </gazebo>
  <gazebo reference="r2/left_thumb_base">
    <selfCollide>false</selfCollide>
    <static>false</static>
    <turnGravityOff>false</turnGravityOff>
  </gazebo>
  <gazebo reference="r2/left_thumb_medial_prime">
    <selfCollide>false</selfCollide>
    <static>false</static>
    <turnGravityOff>false</turnGravityOff>
  </gazebo>
  <gazebo reference="r2/left_thumb_medial">
    <selfCollide>false</selfCollide>
    <static>false</static>
    <turnGravityOff>false</turnGravityOff>
  </gazebo>
  <gazebo reference="r2/left_thumb_distal">
    <selfCollide>false</selfCollide>
    <static>false</static>
    <turnGravityOff>false</turnGravityOff>
  </gazebo>
  <gazebo reference="r2/left_index_base">
    <selfCollide>false</selfCollide>
    <static>false</static>
    <turnGravityOff>false</turnGravityOff>
  </gazebo>
  <gazebo reference="r2/left_index_proximal">
    <selfCollide>false</selfCollide>
    <static>false</static>
    <turnGravityOff>false</turnGravityOff>
  </gazebo>
  <gazebo reference="r2/left_index_medial">
    <selfCollide>false</selfCollide>
    <static>false</static>
    <turnGravityOff>false</turnGravityOff>
  </gazebo>
  <gazebo reference="r2/left_index_distal">
    <selfCollide>false</selfCollide>
    <static>false</static>
    <turnGravityOff>false</turnGravityOff>
  </gazebo>
  <gazebo reference="r2/left_middle_base">
    <selfCollide>false</selfCollide>
    <static>false</static>
    <turnGravityOff>false</turnGravityOff>
  </gazebo>
  <gazebo reference="r2/left_middle_proximal">
    <selfCollide>false</selfCollide>
    <static>false</static>
    <turnGravityOff>false</turnGravityOff>
  </gazebo>
  <gazebo reference="r2/left_middle_medial">
    <selfCollide>false</selfCollide>
    <static>false</static>
    <turnGravityOff>false</turnGravityOff>
  </gazebo>
  <gazebo reference="r2/left_middle_distal">
    <selfCollide>false</selfCollide>
    <static>false</static>
    <turnGravityOff>false</turnGravityOff>
  </gazebo>
  <gazebo reference="r2/left_ring_proximal">
    <selfCollide>false</selfCollide>
    <static>false</static>
    <turnGravityOff>false</turnGravityOff>
  </gazebo>
  <gazebo reference="r2/left_ring_medial">
    <selfCollide>false</selfCollide>
    <static>false</static>
    <turnGravityOff>false</turnGravityOff>
  </gazebo>
  <gazebo reference="r2/left_ring_distal">
    <selfCollide>false</selfCollide>
    <static>false</static>
    <turnGravityOff>false</turnGravityOff>
  </gazebo>
  <gazebo reference="r2/left_little_proximal">
    <selfCollide>false</selfCollide>
    <static>false</static>
    <turnGravityOff>false</turnGravityOff>
  </gazebo>
  <gazebo reference="r2/left_little_medial">
    <selfCollide>false</selfCollide>
    <static>false</static>
    <turnGravityOff>false</turnGravityOff>
  </gazebo>
  <gazebo reference="r2/left_little_distal">
    <selfCollide>false</selfCollide>
    <static>false</static>
    <turnGravityOff>false</turnGravityOff>
  </gazebo>
  <gazebo reference="r2/right_shoulder_roll">
    <selfCollide>false</selfCollide>
    <static>false</static>
    <turnGravityOff>false</turnGravityOff>
  </gazebo>
  <gazebo reference="r2/right_shoulder_pitch">
    <selfCollide>false</selfCollide>
    <static>false</static>
    <turnGravityOff>false</turnGravityOff>
  </gazebo>
  <gazebo reference="r2/right_upper_arm">
    <selfCollide>false</selfCollide>
    <static>false</static>
    <turnGravityOff>false</turnGravityOff>
  </gazebo>
  <gazebo reference="r2/right_elbow">
    <selfCollide>false</selfCollide>
    <static>false</static>
    <turnGravityOff>false</turnGravityOff>
  </gazebo>
  <gazebo reference="r2/right_lower_arm">
    <selfCollide>false</selfCollide>
    <static>false</static>
    <turnGravityOff>false</turnGravityOff>
  </gazebo>
  <gazebo reference="r2/right_wrist_pitch">
    <selfCollide>false</selfCollide>
    <static>false</static>
    <turnGravityOff>false</turnGravityOff>
  </gazebo>
  <gazebo reference="r2/right_wrist_yaw">
    <selfCollide>false</selfCollide>
    <static>false</static>
    <turnGravityOff>false</turnGravityOff>
  </gazebo>
  <gazebo reference="r2/right_palm">
    <selfCollide>false</selfCollide>
    <static>false</static>
    <turnGravityOff>false</turnGravityOff>
  </gazebo>
  <gazebo reference="r2/right_arm/joint0">
    <stopKd value="0.0"/>
    <stopKp value="1000.0"/>
  </gazebo>
  <gazebo reference="r2/right_arm/joint1">
    <stopKd value="0.0"/>
    <stopKp value="1000.0"/>
  </gazebo>
  <gazebo reference="r2/right_arm/joint2">
    <stopKd value="0.0"/>
    <stopKp value="1000.0"/>
  </gazebo>
  <gazebo reference="r2/right_arm/joint3">
    <stopKd value="0.0"/>
    <stopKp value="1000.0"/>
  </gazebo>
  <gazebo reference="r2/right_arm/joint4">
    <stopKd value="0.0"/>
    <stopKp value="1000.0"/>
  </gazebo>
  <gazebo reference="r2/right_arm/joint5">
    <stopKd value="0.0"/>
    <stopKp value="1000.0"/>
  </gazebo>
  <gazebo reference="r2/right_arm/joint6">
    <stopKd value="0.0"/>
    <stopKp value="1000.0"/>
  </gazebo>
  <gazebo reference="r2/right_thumb_base">
    <selfCollide>false</selfCollide>
    <static>false</static>
    <turnGravityOff>false</turnGravityOff>
  </gazebo>
  <gazebo reference="r2/right_thumb_medial_prime">
    <selfCollide>false</selfCollide>
    <static>false</static>
    <turnGravityOff>false</turnGravityOff>
  </gazebo>
  <gazebo reference="r2/right_thumb_medial">
    <selfCollide>false</selfCollide>
    <static>false</static>
    <turnGravityOff>false</turnGravityOff>
  </gazebo>
  <gazebo reference="r2/right_thumb_distal">
    <selfCollide>false</selfCollide>
    <static>false</static>
    <turnGravityOff>false</turnGravityOff>
  </gazebo>
  <gazebo reference="r2/right_index_base">
    <selfCollide>false</selfCollide>
    <static>false</static>
    <turnGravityOff>false</turnGravityOff>
  </gazebo>
  <gazebo reference="r2/right_index_proximal">
    <selfCollide>false</selfCollide>
    <static>false</static>
    <turnGravityOff>false</turnGravityOff>
  </gazebo>
  <gazebo reference="r2/right_index_medial">
    <selfCollide>false</selfCollide>
    <static>false</static>
    <turnGravityOff>false</turnGravityOff>
  </gazebo>
  <gazebo reference="r2/right_index_distal">
    <selfCollide>false</selfCollide>
    <static>false</static>
    <turnGravityOff>false</turnGravityOff>
  </gazebo>
  <gazebo reference="r2/right_middle_base">
    <selfCollide>false</selfCollide>
    <static>false</static>
    <turnGravityOff>false</turnGravityOff>
  </gazebo>
  <gazebo reference="r2/right_middle_proximal">
    <selfCollide>false</selfCollide>
    <static>false</static>
    <turnGravityOff>false</turnGravityOff>
  </gazebo>
  <gazebo reference="r2/right_middle_medial">
    <selfCollide>false</selfCollide>
    <static>false</static>
    <turnGravityOff>false</turnGravityOff>
  </gazebo>
  <gazebo reference="r2/right_middle_distal">
    <selfCollide>false</selfCollide>
    <static>false</static>
    <turnGravityOff>false</turnGravityOff>
  </gazebo>
  <gazebo reference="r2/right_ring_proximal">
    <selfCollide>false</selfCollide>
    <static>false</static>
    <turnGravityOff>false</turnGravityOff>
  </gazebo>
  <gazebo reference="r2/right_ring_medial">
    <selfCollide>false</selfCollide>
    <static>false</static>
    <turnGravityOff>false</turnGravityOff>
  </gazebo>
  <gazebo reference="r2/right_ring_distal">
    <selfCollide>false</selfCollide>
    <static>false</static>
    <turnGravityOff>false</turnGravityOff>
  </gazebo>
  <gazebo reference="r2/right_little_proximal">
    <selfCollide>false</selfCollide>
    <static>false</static>
    <turnGravityOff>false</turnGravityOff>
  </gazebo>
  <gazebo reference="r2/right_little_medial">
    <selfCollide>false</selfCollide>
    <static>false</static>
    <turnGravityOff>false</turnGravityOff>
  </gazebo>
  <gazebo reference="r2/right_little_distal">
    <selfCollide>false</selfCollide>
    <static>false</static>
    <turnGravityOff>false</turnGravityOff>
  </gazebo>
  <gazebo reference="r2/neck_base">
    <selfCollide>false</selfCollide>
    <static>false</static>
    <turnGravityOff>false</turnGravityOff>
  </gazebo>
  <gazebo reference="r2/neck/joint0">
    <stopKd value="0.0"/>
    <stopKp value="1000.0"/>
  </gazebo>
  <gazebo reference="r2/neck_lower_pitch">
    <selfCollide>false</selfCollide>
    <static>false</static>
    <turnGravityOff>false</turnGravityOff>
  </gazebo>
  <gazebo reference="r2/neck/joint1">
    <stopKd value="0.0"/>
    <stopKp value="1000.0"/>
  </gazebo>
  <gazebo reference="r2/neck_roll">
    <selfCollide>false</selfCollide>
    <static>false</static>
    <turnGravityOff>false</turnGravityOff>
  </gazebo>
  <gazebo reference="r2/neck/joint2">
    <stopKd value="0.0"/>
    <stopKp value="1000.0"/>
  </gazebo>
  <gazebo reference="r2/left_camera_optical_frame">
    <!-- <sensor:camera name="${camera_name}">
            <imageSize>1600 1200</imageSize>
            <imageFormat>R8G8B8</imageFormat>
            <hfov>90</hfov>
            <nearClip>0.10</nearClip>
            <farClip>50</farClip>
            <updateRate>10.0</updateRate>
            <controller:gazebo_ros_prosilica name="${camera_name}_controller" plugin="libgazebo_ros_prosilica.so">
                <alwaysOn>true</alwaysOn>
                <updateRate>20.0</updateRate>
                <cameraName>${camera_name}</cameraName>
                <imageTopicName>image_raw</imageTopicName>
                <cameraInfoTopicName>camera_info</cameraInfoTopicName>
                <pollServiceName>request_image</pollServiceName>
                <frameName>${frame_name}</frameName>
                <CxPrime>1224.5</CxPrime>
                <Cx>802.4</Cx>
                <Cy>603.2</Cy>
                <focalLength>8330</focalLength>
                <distortionK1>0.00000001</distortionK1>
                <distortionK2>0.00000001</distortionK2>
                <distortionK3>0.00000001</distortionK3>
                <distortionT1>0.00000001</distortionT1>
                <distortionT2>0.00000001</distortionT2>
                <interface:camera name="${camera_name}_iface"/>
            </controller:gazebo_ros_prosilica>
          </sensor:camera>
          <turnGravityOff>false</turnGravityOff>
          <material>Gazebo/White</material> -->
    <camera>
      <horizontal_fov angle="1.57079633"/>
      <image format="R8G8B8" height="480" width="640"/>
      <clip far="100" near="0.1"/>
    </camera>
    <plugin filename="libgazebo_ros_camera.so" name="camera_plugin">
      <alwaysOn>true</alwaysOn>
      <imageTopicName>image_raw</imageTopicName>
      <cameraInfoTopicName>camera_info</cameraInfoTopicName>
      <updateRate>30.0</updateRate>
      <cameraName>r2/head/camera/left</cameraName>
      <frameName>r2/left_camera_optical_frame</frameName>
      <CxPrime>320.5</CxPrime>
      <Cx>320.5</Cx>
      <Cy>240.5</Cy>
      <hackBaseline>0</hackBaseline>
      <focalLength>320.000101</focalLength>
      <distortionK1>0.0</distortionK1>
      <distortionK2>0.0</distortionK2>
      <distortionK3>0.0</distortionK3>
      <distortionT1>0.0</distortionT1>
      <distortionT2>0.0</distortionT2>
    </plugin>
  </gazebo>
  <gazebo reference="r2/right_camera_optical_frame">
    <!-- <sensor:camera name="${camera_name}">
            <imageSize>1600 1200</imageSize>
            <imageFormat>R8G8B8</imageFormat>
            <hfov>90</hfov>
            <nearClip>0.10</nearClip>
            <farClip>50</farClip>
            <updateRate>10.0</updateRate>
            <controller:gazebo_ros_prosilica name="${camera_name}_controller" plugin="libgazebo_ros_prosilica.so">
                <alwaysOn>true</alwaysOn>
                <updateRate>20.0</updateRate>
                <cameraName>${camera_name}</cameraName>
                <imageTopicName>image_raw</imageTopicName>
                <cameraInfoTopicName>camera_info</cameraInfoTopicName>
                <pollServiceName>request_image</pollServiceName>
                <frameName>${frame_name}</frameName>
                <CxPrime>1224.5</CxPrime>
                <Cx>802.4</Cx>
                <Cy>603.2</Cy>
                <focalLength>8330</focalLength>
                <distortionK1>0.00000001</distortionK1>
                <distortionK2>0.00000001</distortionK2>
                <distortionK3>0.00000001</distortionK3>
                <distortionT1>0.00000001</distortionT1>
                <distortionT2>0.00000001</distortionT2>
                <interface:camera name="${camera_name}_iface"/>
            </controller:gazebo_ros_prosilica>
          </sensor:camera>
          <turnGravityOff>false</turnGravityOff>
          <material>Gazebo/White</material> -->
    <camera>
      <horizontal_fov angle="1.57079633"/>
      <image format="R8G8B8" height="480" width="640"/>
      <clip far="100" near="0.1"/>
    </camera>
    <plugin filename="libgazebo_ros_camera.so" name="camera_plugin">
      <alwaysOn>true</alwaysOn>
      <imageTopicName>image_raw</imageTopicName>
      <cameraInfoTopicName>camera_info</cameraInfoTopicName>
      <updateRate>30.0</updateRate>
      <cameraName>r2/head/camera/right</cameraName>
      <frameName>r2/right_camera_optical_frame</frameName>
      <CxPrime>320.5</CxPrime>
      <Cx>320.5</Cx>
      <Cy>240.5</Cy>
      <hackBaseline>0</hackBaseline>
      <focalLength>320.000101</focalLength>
      <distortionK1>0.0</distortionK1>
      <distortionK2>0.0</distortionK2>
      <distortionK3>0.0</distortionK3>
      <distortionT1>0.0</distortionT1>
      <distortionT2>0.0</distortionT2>
    </plugin>
  </gazebo>
  <gazebo reference="r2/simulated_asus_camera_frame">
    <sensor name="openni_camera_camera" type="depth">
      <always_on>1</always_on>
      <visualize>true</visualize>
      <camera>
        <horizontal_fov>1.047</horizontal_fov>
        <image>
          <width>320</width>
          <height>240</height>
          <format>R8G8B8</format>
        </image>
        <depth_camera> </depth_camera>
        <clip>
          <near>0.1</near>
          <far>100</far>
        </clip>
      </camera>
      <plugin filename="libgazebo_ros_openni_kinect.so" name="camera_controller">
        <alwaysOn>true</alwaysOn>
        <updateRate>10.0</updateRate>
        <cameraName>r2/asus</cameraName>
        <frameName>r2/simulated_asus_depth_frame</frameName>
        <imageTopicName>/r2/asus/rgb/image_raw</imageTopicName>
        <depthImageTopicName>/r2/asus/depth/image_raw</depthImageTopicName>
        <pointCloudTopicName>/r2/asus/depth/points</pointCloudTopicName>
        <cameraInfoTopicName>/r2/asus/rgb/camera_info</cameraInfoTopicName>
        <depthImageCameraInfoTopicName>/r2/asus/depth/camera_info</depthImageCameraInfoTopicName>
        <pointCloudCutoff>0.4</pointCloudCutoff>
        <hackBaseline>0.0</hackBaseline>
        <distortionK1>0.0</distortionK1>
        <distortionK2>0.0</distortionK2>
        <distortionK3>0.0</distortionK3>
        <distortionT1>0.0</distortionT1>
        <distortionT2>0.0</distortionT2>
        <CxPrime>0.0</CxPrime>
        <Cx>0.0</Cx>
        <Cy>0.0</Cy>
        <focalLength>0.0</focalLength>
      </plugin>
    </sensor>
  </gazebo>
  <transmission name="r2/waist_j0_trans">
    <type>transmission_interface/SimpleTransmission</type>
    <joint name="r2/waist/joint0"/>
    <actuator name="r2/waist_j0_motor">
      <hardwareInterface>EffortJointInterface</hardwareInterface>
      <mechanicalReduction>100</mechanicalReduction>
    </actuator>
    <motorTorqueConstant>0.01</motorTorqueConstant>
  </transmission>
  <transmission name="r2/left_arm_j0_trans">
    <type>transmission_interface/SimpleTransmission</type>
    <joint name="r2/left_arm/joint0"/>
    <actuator name="r2/left_arm_j0_motor">
      <hardwareInterface>EffortJointInterface</hardwareInterface>
      <mechanicalReduction>100</mechanicalReduction>
    </actuator>
    <motorTorqueConstant>0.01</motorTorqueConstant>
  </transmission>
  <transmission name="r2/left_arm_j1_trans">
    <type>transmission_interface/SimpleTransmission</type>
    <joint name="r2/left_arm/joint1"/>
    <actuator name="r2/left_arm_j1_motor">
      <hardwareInterface>EffortJointInterface</hardwareInterface>
      <mechanicalReduction>100</mechanicalReduction>
    </actuator>
    <motorTorqueConstant>0.01</motorTorqueConstant>
  </transmission>
  <transmission name="r2/left_arm_j2_trans">
    <type>transmission_interface/SimpleTransmission</type>
    <joint name="r2/left_arm/joint2"/>
    <actuator name="r2/left_arm_j2_motor">
      <hardwareInterface>EffortJointInterface</hardwareInterface>
      <mechanicalReduction>100</mechanicalReduction>
    </actuator>
    <motorTorqueConstant>0.01</motorTorqueConstant>
  </transmission>
  <transmission name="r2/left_arm_j3_trans">
    <type>transmission_interface/SimpleTransmission</type>
    <joint name="r2/left_arm/joint3"/>
    <actuator name="r2/left_arm_j3_motor">
      <hardwareInterface>EffortJointInterface</hardwareInterface>
      <mechanicalReduction>100</mechanicalReduction>
    </actuator>
    <motorTorqueConstant>0.01</motorTorqueConstant>
  </transmission>
  <transmission name="r2/left_arm_j4_trans">
    <type>transmission_interface/SimpleTransmission</type>
    <joint name="r2/left_arm/joint4"/>
    <actuator name="r2/left_arm_j4_motor">
      <hardwareInterface>EffortJointInterface</hardwareInterface>
      <mechanicalReduction>100</mechanicalReduction>
    </actuator>
    <motorTorqueConstant>0.01</motorTorqueConstant>
  </transmission>
  <transmission name="r2/left_arm_j5_trans">
    <type>transmission_interface/SimpleTransmission</type>
    <joint name="r2/left_arm/joint5"/>
    <actuator name="r2/left_arm_j5_motor">
      <hardwareInterface>EffortJointInterface</hardwareInterface>
      <mechanicalReduction>100</mechanicalReduction>
    </actuator>
    <motorTorqueConstant>0.01</motorTorqueConstant>
  </transmission>
  <transmission name="r2/left_arm_j6_trans">
    <type>transmission_interface/SimpleTransmission</type>
    <joint name="r2/left_arm/joint6"/>
    <actuator name="r2/left_arm_j6_motor">
      <hardwareInterface>EffortJointInterface</hardwareInterface>
      <mechanicalReduction>100</mechanicalReduction>
    </actuator>
    <motorTorqueConstant>0.01</motorTorqueConstant>
  </transmission>
  <transmission name="r2/left_arm/hand/thumb_j0_trans">
    <type>transmission_interface/SimpleTransmission</type>
    <joint name="r2/left_arm/hand/thumb/joint0"/>
    <actuator name="r2/left_arm/hand/thumb_j0_motor">
      <hardwareInterface>EffortJointInterface</hardwareInterface>
      <mechanicalReduction>100</mechanicalReduction>
    </actuator>
    <motorTorqueConstant>0.01</motorTorqueConstant>
  </transmission>
  <transmission name="r2/left_arm/hand/thumb_j1_trans">
    <type>transmission_interface/SimpleTransmission</type>
    <joint name="r2/left_arm/hand/thumb/joint1"/>
    <actuator name="r2/left_arm/hand/thumb_j1_motor">
      <hardwareInterface>EffortJointInterface</hardwareInterface>
      <mechanicalReduction>100</mechanicalReduction>
    </actuator>
    <motorTorqueConstant>0.01</motorTorqueConstant>
  </transmission>
  <transmission name="r2/left_arm/hand/thumb_j2_trans">
    <type>transmission_interface/SimpleTransmission</type>
    <joint name="r2/left_arm/hand/thumb/joint2"/>
    <actuator name="r2/left_arm/hand/thumb_j2_motor">
      <hardwareInterface>EffortJointInterface</hardwareInterface>
      <mechanicalReduction>100</mechanicalReduction>
    </actuator>
    <motorTorqueConstant>0.01</motorTorqueConstant>
  </transmission>
  <transmission name="r2/left_arm/hand/thumb_j3_trans">
    <type>transmission_interface/SimpleTransmission</type>
    <joint name="r2/left_arm/hand/thumb/joint3"/>
    <actuator name="r2/left_arm/hand/thumb_j3_motor">
      <hardwareInterface>EffortJointInterface</hardwareInterface>
      <mechanicalReduction>100</mechanicalReduction>
    </actuator>
    <motorTorqueConstant>0.01</motorTorqueConstant>
  </transmission>
  <transmission name="r2/left_arm/hand/index_j0_trans">
    <type>transmission_interface/SimpleTransmission</type>
    <joint name="r2/left_arm/hand/index/joint0"/>
    <actuator name="r2/left_arm/hand/index_j0_motor">
      <hardwareInterface>EffortJointInterface</hardwareInterface>
      <mechanicalReduction>100</mechanicalReduction>
    </actuator>
    <motorTorqueConstant>0.01</motorTorqueConstant>
  </transmission>
  <transmission name="r2/left_arm/hand/index_j1_trans">
    <type>transmission_interface/SimpleTransmission</type>
    <joint name="r2/left_arm/hand/index/joint1"/>
    <actuator name="r2/left_arm/hand/index_j1_motor">
      <hardwareInterface>EffortJointInterface</hardwareInterface>
      <mechanicalReduction>100</mechanicalReduction>
    </actuator>
    <motorTorqueConstant>0.01</motorTorqueConstant>
  </transmission>
  <transmission name="r2/left_arm/hand/index_j2_trans">
    <type>transmission_interface/SimpleTransmission</type>
    <joint name="r2/left_arm/hand/index/joint2"/>
    <actuator name="r2/left_arm/hand/index_j2_motor">
      <hardwareInterface>EffortJointInterface</hardwareInterface>
      <mechanicalReduction>100</mechanicalReduction>
    </actuator>
    <motorTorqueConstant>0.01</motorTorqueConstant>
  </transmission>
  <transmission name="r2/left_arm/hand/index_j3_trans">
    <type>transmission_interface/SimpleTransmission</type>
    <joint name="r2/left_arm/hand/index/joint3"/>
    <actuator name="r2/left_arm/hand/index_j3_motor">
      <hardwareInterface>EffortJointInterface</hardwareInterface>
      <mechanicalReduction>100</mechanicalReduction>
    </actuator>
    <motorTorqueConstant>0.01</motorTorqueConstant>
  </transmission>
  <transmission name="r2/left_arm/hand/middle_j0_trans">
    <type>transmission_interface/SimpleTransmission</type>
    <joint name="r2/left_arm/hand/middle/joint0"/>
    <actuator name="r2/left_arm/hand/middle_j0_motor">
      <hardwareInterface>EffortJointInterface</hardwareInterface>
      <mechanicalReduction>100</mechanicalReduction>
    </actuator>
    <motorTorqueConstant>0.01</motorTorqueConstant>
  </transmission>
  <transmission name="r2/left_arm/hand/middle_j1_trans">
    <type>transmission_interface/SimpleTransmission</type>
    <joint name="r2/left_arm/hand/middle/joint1"/>
    <actuator name="r2/left_arm/hand/middle_j1_motor">
      <hardwareInterface>EffortJointInterface</hardwareInterface>
      <mechanicalReduction>100</mechanicalReduction>
    </actuator>
    <motorTorqueConstant>0.01</motorTorqueConstant>
  </transmission>
  <transmission name="r2/left_arm/hand/middle_j2_trans">
    <type>transmission_interface/SimpleTransmission</type>
    <joint name="r2/left_arm/hand/middle/joint2"/>
    <actuator name="r2/left_arm/hand/middle_j2_motor">
      <hardwareInterface>EffortJointInterface</hardwareInterface>
      <mechanicalReduction>100</mechanicalReduction>
    </actuator>
    <motorTorqueConstant>0.01</motorTorqueConstant>
  </transmission>
  <transmission name="r2/left_arm/hand/middle_j3_trans">
    <type>transmission_interface/SimpleTransmission</type>
    <joint name="r2/left_arm/hand/middle/joint3"/>
    <actuator name="r2/left_arm/hand/middle_j3_motor">
      <hardwareInterface>EffortJointInterface</hardwareInterface>
      <mechanicalReduction>100</mechanicalReduction>
    </actuator>
    <motorTorqueConstant>0.01</motorTorqueConstant>
  </transmission>
  <transmission name="r2/left_arm/hand/ring_j0_trans">
    <type>transmission_interface/SimpleTransmission</type>
    <joint name="r2/left_arm/hand/ring/joint0"/>
    <actuator name="r2/left_arm/hand/ring_j0_motor">
      <hardwareInterface>EffortJointInterface</hardwareInterface>
      <mechanicalReduction>100</mechanicalReduction>
    </actuator>
    <motorTorqueConstant>0.01</motorTorqueConstant>
  </transmission>
  <transmission name="r2/left_arm/hand/ring_j1_trans">
    <type>transmission_interface/SimpleTransmission</type>
    <joint name="r2/left_arm/hand/ring/joint1"/>
    <actuator name="r2/left_arm/hand/ring_j1_motor">
      <hardwareInterface>EffortJointInterface</hardwareInterface>
      <mechanicalReduction>100</mechanicalReduction>
    </actuator>
    <motorTorqueConstant>0.01</motorTorqueConstant>
  </transmission>
  <transmission name="r2/left_arm/hand/ring_j2_trans">
    <type>transmission_interface/SimpleTransmission</type>
    <joint name="r2/left_arm/hand/ring/joint2"/>
    <actuator name="r2/left_arm/hand/ring_j2_motor">
      <hardwareInterface>EffortJointInterface</hardwareInterface>
      <mechanicalReduction>100</mechanicalReduction>
    </actuator>
    <motorTorqueConstant>0.01</motorTorqueConstant>
  </transmission>
  <transmission name="r2/left_arm/hand/little_j0_trans">
    <type>transmission_interface/SimpleTransmission</type>
    <joint name="r2/left_arm/hand/little/joint0"/>
    <actuator name="r2/left_arm/hand/little_j0_motor">
      <hardwareInterface>EffortJointInterface</hardwareInterface>
      <mechanicalReduction>100</mechanicalReduction>
    </actuator>
    <motorTorqueConstant>0.01</motorTorqueConstant>
  </transmission>
  <transmission name="r2/left_arm/hand/little_j1_trans">
    <type>transmission_interface/SimpleTransmission</type>
    <joint name="r2/left_arm/hand/little/joint1"/>
    <actuator name="r2/left_arm/hand/little_j1_motor">
      <hardwareInterface>EffortJointInterface</hardwareInterface>
      <mechanicalReduction>100</mechanicalReduction>
    </actuator>
    <motorTorqueConstant>0.01</motorTorqueConstant>
  </transmission>
  <transmission name="r2/left_arm/hand/little_j2_trans">
    <type>transmission_interface/SimpleTransmission</type>
    <joint name="r2/left_arm/hand/little/joint2"/>
    <actuator name="r2/left_arm/hand/little_j2_motor">
      <hardwareInterface>EffortJointInterface</hardwareInterface>
      <mechanicalReduction>100</mechanicalReduction>
    </actuator>
    <motorTorqueConstant>0.01</motorTorqueConstant>
  </transmission>
  <transmission name="r2/right_arm_j0_trans">
    <type>transmission_interface/SimpleTransmission</type>
    <joint name="r2/right_arm/joint0"/>
    <actuator name="r2/right_arm_j0_motor">
      <hardwareInterface>EffortJointInterface</hardwareInterface>
      <mechanicalReduction>100</mechanicalReduction>
    </actuator>
    <motorTorqueConstant>0.01</motorTorqueConstant>
  </transmission>
  <transmission name="r2/right_arm_j1_trans">
    <type>transmission_interface/SimpleTransmission</type>
    <joint name="r2/right_arm/joint1"/>
    <actuator name="r2/right_arm_j1_motor">
      <hardwareInterface>EffortJointInterface</hardwareInterface>
      <mechanicalReduction>100</mechanicalReduction>
    </actuator>
    <motorTorqueConstant>0.01</motorTorqueConstant>
  </transmission>
  <transmission name="r2/right_arm_j2_trans">
    <type>transmission_interface/SimpleTransmission</type>
    <joint name="r2/right_arm/joint2"/>
    <actuator name="r2/right_arm_j2_motor">
      <hardwareInterface>EffortJointInterface</hardwareInterface>
      <mechanicalReduction>100</mechanicalReduction>
    </actuator>
    <motorTorqueConstant>0.01</motorTorqueConstant>
  </transmission>
  <transmission name="r2/right_arm_j3_trans">
    <type>transmission_interface/SimpleTransmission</type>
    <joint name="r2/right_arm/joint3"/>
    <actuator name="r2/right_arm_j3_motor">
      <hardwareInterface>EffortJointInterface</hardwareInterface>
      <mechanicalReduction>100</mechanicalReduction>
    </actuator>
    <motorTorqueConstant>0.01</motorTorqueConstant>
  </transmission>
  <transmission name="r2/right_arm_j4_trans">
    <type>transmission_interface/SimpleTransmission</type>
    <joint name="r2/right_arm/joint4"/>
    <actuator name="r2/right_arm_j4_motor">
      <hardwareInterface>EffortJointInterface</hardwareInterface>
      <mechanicalReduction>100</mechanicalReduction>
    </actuator>
    <motorTorqueConstant>0.01</motorTorqueConstant>
  </transmission>
  <transmission name="r2/right_arm_j5_trans">
    <type>transmission_interface/SimpleTransmission</type>
    <joint name="r2/right_arm/joint5"/>
    <actuator name="r2/right_arm_j5_motor">
      <hardwareInterface>EffortJointInterface</hardwareInterface>
      <mechanicalReduction>100</mechanicalReduction>
    </actuator>
    <motorTorqueConstant>0.01</motorTorqueConstant>
  </transmission>
  <transmission name="r2/right_arm_j6_trans">
    <type>transmission_interface/SimpleTransmission</type>
    <joint name="r2/right_arm/joint6"/>
    <actuator name="r2/right_arm_j6_motor">
      <hardwareInterface>EffortJointInterface</hardwareInterface>
      <mechanicalReduction>100</mechanicalReduction>
    </actuator>
    <motorTorqueConstant>0.01</motorTorqueConstant>
  </transmission>
  <transmission name="r2/right_arm/hand/thumb_j0_trans">
    <type>transmission_interface/SimpleTransmission</type>
    <joint name="r2/right_arm/hand/thumb/joint0"/>
    <actuator name="r2/right_arm/hand/thumb_j0_motor">
      <hardwareInterface>EffortJointInterface</hardwareInterface>
      <mechanicalReduction>100</mechanicalReduction>
    </actuator>
    <motorTorqueConstant>0.01</motorTorqueConstant>
  </transmission>
  <transmission name="r2/right_arm/hand/thumb_j1_trans">
    <type>transmission_interface/SimpleTransmission</type>
    <joint name="r2/right_arm/hand/thumb/joint1"/>
    <actuator name="r2/right_arm/hand/thumb_j1_motor">
      <hardwareInterface>EffortJointInterface</hardwareInterface>
      <mechanicalReduction>100</mechanicalReduction>
    </actuator>
    <motorTorqueConstant>0.01</motorTorqueConstant>
  </transmission>
  <transmission name="r2/right_arm/hand/thumb_j2_trans">
    <type>transmission_interface/SimpleTransmission</type>
    <joint name="r2/right_arm/hand/thumb/joint2"/>
    <actuator name="r2/right_arm/hand/thumb_j2_motor">
      <hardwareInterface>EffortJointInterface</hardwareInterface>
      <mechanicalReduction>100</mechanicalReduction>
    </actuator>
    <motorTorqueConstant>0.01</motorTorqueConstant>
  </transmission>
  <transmission name="r2/right_arm/hand/thumb_j3_trans">
    <type>transmission_interface/SimpleTransmission</type>
    <joint name="r2/right_arm/hand/thumb/joint3"/>
    <actuator name="r2/right_arm/hand/thumb_j3_motor">
      <hardwareInterface>EffortJointInterface</hardwareInterface>
      <mechanicalReduction>100</mechanicalReduction>
    </actuator>
    <motorTorqueConstant>0.01</motorTorqueConstant>
  </transmission>
  <transmission name="r2/right_arm/hand/index_j0_trans">
    <type>transmission_interface/SimpleTransmission</type>
    <joint name="r2/right_arm/hand/index/joint0"/>
    <actuator name="r2/right_arm/hand/index_j0_motor">
      <hardwareInterface>EffortJointInterface</hardwareInterface>
      <mechanicalReduction>100</mechanicalReduction>
    </actuator>
    <motorTorqueConstant>0.01</motorTorqueConstant>
  </transmission>
  <transmission name="r2/right_arm/hand/index_j1_trans">
    <type>transmission_interface/SimpleTransmission</type>
    <joint name="r2/right_arm/hand/index/joint1"/>
    <actuator name="r2/right_arm/hand/index_j1_motor">
      <hardwareInterface>EffortJointInterface</hardwareInterface>
      <mechanicalReduction>100</mechanicalReduction>
    </actuator>
    <motorTorqueConstant>0.01</motorTorqueConstant>
  </transmission>
  <transmission name="r2/right_arm/hand/index_j2_trans">
    <type>transmission_interface/SimpleTransmission</type>
    <joint name="r2/right_arm/hand/index/joint2"/>
    <actuator name="r2/right_arm/hand/index_j2_motor">
      <hardwareInterface>EffortJointInterface</hardwareInterface>
      <mechanicalReduction>100</mechanicalReduction>
    </actuator>
    <motorTorqueConstant>0.01</motorTorqueConstant>
  </transmission>
  <transmission name="r2/right_arm/hand/index_j3_trans">
    <type>transmission_interface/SimpleTransmission</type>
    <joint name="r2/right_arm/hand/index/joint3"/>
    <actuator name="r2/right_arm/hand/index_j3_motor">
      <hardwareInterface>EffortJointInterface</hardwareInterface>
      <mechanicalReduction>100</mechanicalReduction>
    </actuator>
    <motorTorqueConstant>0.01</motorTorqueConstant>
  </transmission>
  <transmission name="r2/right_arm/hand/middle_j0_trans">
    <type>transmission_interface/SimpleTransmission</type>
    <joint name="r2/right_arm/hand/middle/joint0"/>
    <actuator name="r2/right_arm/hand/middle_j0_motor">
      <hardwareInterface>EffortJointInterface</hardwareInterface>
      <mechanicalReduction>100</mechanicalReduction>
    </actuator>
    <motorTorqueConstant>0.01</motorTorqueConstant>
  </transmission>
  <transmission name="r2/right_arm/hand/middle_j1_trans">
    <type>transmission_interface/SimpleTransmission</type>
    <joint name="r2/right_arm/hand/middle/joint1"/>
    <actuator name="r2/right_arm/hand/middle_j1_motor">
      <hardwareInterface>EffortJointInterface</hardwareInterface>
      <mechanicalReduction>100</mechanicalReduction>
    </actuator>
    <motorTorqueConstant>0.01</motorTorqueConstant>
  </transmission>
  <transmission name="r2/right_arm/hand/middle_j2_trans">
    <type>transmission_interface/SimpleTransmission</type>
    <joint name="r2/right_arm/hand/middle/joint2"/>
    <actuator name="r2/right_arm/hand/middle_j2_motor">
      <hardwareInterface>EffortJointInterface</hardwareInterface>
      <mechanicalReduction>100</mechanicalReduction>
    </actuator>
    <motorTorqueConstant>0.01</motorTorqueConstant>
  </transmission>
  <transmission name="r2/right_arm/hand/middle_j3_trans">
    <type>transmission_interface/SimpleTransmission</type>
    <joint name="r2/right_arm/hand/middle/joint3"/>
    <actuator name="r2/right_arm/hand/middle_j3_motor">
      <hardwareInterface>EffortJointInterface</hardwareInterface>
      <mechanicalReduction>100</mechanicalReduction>
    </actuator>
    <motorTorqueConstant>0.01</motorTorqueConstant>
  </transmission>
  <transmission name="r2/right_arm/hand/ring_j0_trans">
    <type>transmission_interface/SimpleTransmission</type>
    <joint name="r2/right_arm/hand/ring/joint0"/>
    <actuator name="r2/right_arm/hand/ring_j0_motor">
      <hardwareInterface>EffortJointInterface</hardwareInterface>
      <mechanicalReduction>100</mechanicalReduction>
    </actuator>
    <motorTorqueConstant>0.01</motorTorqueConstant>
  </transmission>
  <transmission name="r2/right_arm/hand/ring_j1_trans">
    <type>transmission_interface/SimpleTransmission</type>
    <joint name="r2/right_arm/hand/ring/joint1"/>
    <actuator name="r2/right_arm/hand/ring_j1_motor">
      <hardwareInterface>EffortJointInterface</hardwareInterface>
      <mechanicalReduction>100</mechanicalReduction>
    </actuator>
    <motorTorqueConstant>0.01</motorTorqueConstant>
  </transmission>
  <transmission name="r2/right_arm/hand/ring_j2_trans">
    <type>transmission_interface/SimpleTransmission</type>
    <joint name="r2/right_arm/hand/ring/joint2"/>
    <actuator name="r2/right_arm/hand/ring_j2_motor">
      <hardwareInterface>EffortJointInterface</hardwareInterface>
      <mechanicalReduction>100</mechanicalReduction>
    </actuator>
    <motorTorqueConstant>0.01</motorTorqueConstant>
  </transmission>
  <transmission name="r2/right_arm/hand/little_j0_trans">
    <type>transmission_interface/SimpleTransmission</type>
    <joint name="r2/right_arm/hand/little/joint0"/>
    <actuator name="r2/right_arm/hand/little_j0_motor">
      <hardwareInterface>EffortJointInterface</hardwareInterface>
      <mechanicalReduction>100</mechanicalReduction>
    </actuator>
    <motorTorqueConstant>0.01</motorTorqueConstant>
  </transmission>
  <transmission name="r2/right_arm/hand/little_j1_trans">
    <type>transmission_interface/SimpleTransmission</type>
    <joint name="r2/right_arm/hand/little/joint1"/>
    <actuator name="r2/right_arm/hand/little_j1_motor">
      <hardwareInterface>EffortJointInterface</hardwareInterface>
      <mechanicalReduction>100</mechanicalReduction>
    </actuator>
    <motorTorqueConstant>0.01</motorTorqueConstant>
  </transmission>
  <transmission name="r2/right_arm/hand/little_j2_trans">
    <type>transmission_interface/SimpleTransmission</type>
    <joint name="r2/right_arm/hand/little/joint2"/>
    <actuator name="r2/right_arm/hand/little_j2_motor">
      <hardwareInterface>EffortJointInterface</hardwareInterface>
      <mechanicalReduction>100</mechanicalReduction>
    </actuator>
    <motorTorqueConstant>0.01</motorTorqueConstant>
  </transmission>
  <transmission name="r2/neck_j0_trans">
    <type>transmission_interface/SimpleTransmission</type>
    <joint name="r2/neck/joint0"/>
    <actuator name="r2/neck_j0_motor">
      <hardwareInterface>EffortJointInterface</hardwareInterface>
      <mechanicalReduction>100</mechanicalReduction>
    </actuator>
    <motorTorqueConstant>0.01</motorTorqueConstant>
  </transmission>
  <transmission name="r2/neck_j1_trans">
    <type>transmission_interface/SimpleTransmission</type>
    <joint name="r2/neck/joint1"/>
    <actuator name="r2/neck_j1_motor">
      <hardwareInterface>EffortJointInterface</hardwareInterface>
      <mechanicalReduction>100</mechanicalReduction>
    </actuator>
    <motorTorqueConstant>0.01</motorTorqueConstant>
  </transmission>
  <transmission name="r2/neck_j2_trans">
    <type>transmission_interface/SimpleTransmission</type>
    <joint name="r2/neck/joint2"/>
    <actuator name="r2/neck_j2_motor">
      <hardwareInterface>EffortJointInterface</hardwareInterface>
      <mechanicalReduction>100</mechanicalReduction>
    </actuator>
    <motorTorqueConstant>0.01</motorTorqueConstant>
  </transmission>
  <gazebo>
    <plugin filename="libgazebo_ros_control.so" name="gazebo_ros_control">
      <robotNamespace>r2</robotNamespace>
      <robotSimType>gazebo_ros_control/DefaultRobotHWSim</robotSimType>
    </plugin>
  </gazebo>
</robot>
